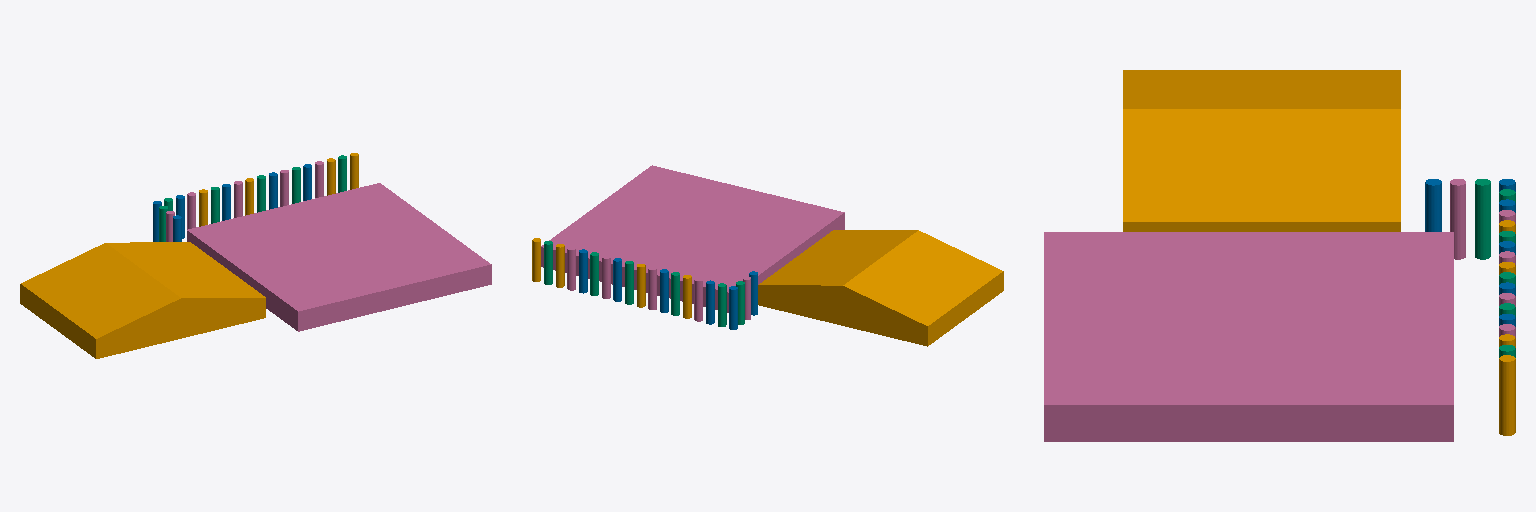
--- Facts derived from the render (not from the file) ---
The picture shows the robot from 3 angles, left to right: view 1: azimuth 30°, elevation 25°; view 2: azimuth 150°, elevation 25°; view 3: azimuth 270°, elevation 25°; orthographic projection.
Robot: pagoda-setup — 139 links, 138 joints (69 revolute, 69 prismatic); root link base_link; default pose: every joint at zero.
Links seen in each view (by area): view 1: platform_link_virtual_yaw_link, Roof_link_virtual_yaw_link; view 2: platform_link_virtual_yaw_link, Roof_link_virtual_yaw_link; view 3: platform_link_virtual_yaw_link, Roof_link_virtual_yaw_link, Pole.001_link_virtual_yaw_link, Pole.019_link_virtual_yaw_link, Pole.020_link_virtual_yaw_link, Pole.021_link_virtual_yaw_link.
Link boxes in pixels (<box>): platform_link_virtual_yaw_link: <box>187,183,491,331</box>; Roof_link_virtual_yaw_link: <box>20,242,265,358</box>; platform_link_virtual_yaw_link: <box>541,165,844,312</box>; Roof_link_virtual_yaw_link: <box>758,230,1003,346</box>; platform_link_virtual_yaw_link: <box>1044,232,1453,441</box>; Roof_link_virtual_yaw_link: <box>1123,70,1400,231</box>; Pole.001_link_virtual_yaw_link: <box>1499,355,1515,435</box>; Pole.019_link_virtual_yaw_link: <box>1475,179,1490,259</box>; Pole.020_link_virtual_yaw_link: <box>1450,179,1465,259</box>; Pole.021_link_virtual_yaw_link: <box>1425,179,1441,231</box>.
Bounding box of the posed robot: 0.9669 × 0.5756 × 0.102 m (x, y, z).
Meshes: 2 distinct files referenced, 2 mesh visuals loaded (2 binary STL).

robot.urdf — pagoda-setup:
<?xml version='1.0' encoding='utf-8'?>
<robot name="pagoda-setup" version="1.0">
  <link name="base_link" />
  <link name="platform_link_virtual_z_link"><inertial><mass value="0.001" /><inertia ixx="0.001" ixy="0" ixz="0" iyy="0.001" iyz="0" izz="0.001" /><origin rpy="0 0 0" xyz="0 0 0" /></inertial></link><link name="platform_link_virtual_y_link"><inertial><mass value="0.001" /><inertia ixx="0.001" ixy="0" ixz="0" iyy="0.001" iyz="0" izz="0.001" /><origin rpy="0 0 0" xyz="0 0 0" /></inertial></link><link name="platform_link_virtual_x_link"><inertial><mass value="0.001" /><inertia ixx="0.001" ixy="0" ixz="0" iyy="0.001" iyz="0" izz="0.001" /><origin rpy="0 0 0" xyz="0 0 0" /></inertial></link><link name="platform_link_virtual_roll_link"><inertial><mass value="0.001" /><inertia ixx="0.001" ixy="0" ixz="0" iyy="0.001" iyz="0" izz="0.001" /><origin rpy="0 0 0" xyz="0 0 0" /></inertial></link><link name="platform_link_virtual_pitch_link"><inertial><mass value="0.001" /><inertia ixx="0.001" ixy="0" ixz="0" iyy="0.001" iyz="0" izz="0.001" /><origin rpy="0 0 0" xyz="0 0 0" /></inertial></link><link name="platform_link_virtual_yaw_link"><visual name="Base">
      <material name="None" />
      <origin rpy="0.00000 0.00000 0.00000" xyz="-0.26000 0.26000 0.02501" />
      <geometry>
        <mesh filename="../meshes/stl/Cube.001.stl" scale="1.00000 1.00000 1.00000" />
      </geometry>
    </visual><collision name="Base_collision">
      <origin rpy="0.00000 0.00000 0.00000" xyz="-0.26000 0.26000 0.02501" />
      <geometry>
        <box size="0.50000 0.50000 0.05000" />
      </geometry>
    </collision><inertial>
      <inertia ixx="2.10417" ixy="0.00000" ixz="0.00000" iyy="2.10417" iyz="0.00000" izz="4.16667" />
      <origin rpy="0.00000 0.00000 0.00000" xyz="-0.26000 0.26000 0.02501" />
      <mass value="100.00000" />
    </inertial></link><joint name="platform_link_z_joint" type="prismatic"><parent link="base_link" /><child link="platform_link_virtual_z_link" /><origin rpy="0 0 0" xyz="0 0 0" /><axis xyz="0 0 1" /><limit lower="-10.0" upper="10.0" effort="1000.0" velocity="5.0" /></joint><joint name="platform_link_y_joint" type="prismatic"><parent link="platform_link_virtual_z_link" /><child link="platform_link_virtual_y_link" /><origin rpy="0 0 0" xyz="0 0 0" /><axis xyz="0 1 0" /><limit lower="-10.0" upper="10.0" effort="1000.0" velocity="5.0" /></joint><joint name="platform_link_x_joint" type="prismatic"><parent link="platform_link_virtual_y_link" /><child link="platform_link_virtual_x_link" /><origin rpy="0 0 0" xyz="0 0 0" /><axis xyz="1 0 0" /><limit lower="-10.0" upper="10.0" effort="1000.0" velocity="5.0" /></joint><joint name="platform_link_roll_joint" type="revolute"><parent link="platform_link_virtual_x_link" /><child link="platform_link_virtual_roll_link" /><origin rpy="0 0 0" xyz="0 0 0" /><axis xyz="1 0 0" /><limit lower="-3.14159" upper="3.14159" effort="1000.0" velocity="5.0" /></joint><joint name="platform_link_pitch_joint" type="revolute"><parent link="platform_link_virtual_roll_link" /><child link="platform_link_virtual_pitch_link" /><origin rpy="0 0 0" xyz="0 0 0" /><axis xyz="0 1 0" /><limit lower="-3.14159" upper="3.14159" effort="1000.0" velocity="5.0" /></joint><joint name="platform_link_yaw_joint" type="revolute"><parent link="platform_link_virtual_pitch_link" /><child link="platform_link_virtual_yaw_link" /><origin rpy="0 0 0" xyz="0 0 0" /><axis xyz="0 0 1" /><limit lower="-3.14159" upper="3.14159" effort="1000.0" velocity="5.0" /></joint><link name="Pole.018_link_virtual_z_link"><inertial><mass value="0.001" /><inertia ixx="0.001" ixy="0" ixz="0" iyy="0.001" iyz="0" izz="0.001" /><origin rpy="0 0 0" xyz="0 0 0" /></inertial></link><link name="Pole.018_link_virtual_y_link"><inertial><mass value="0.001" /><inertia ixx="0.001" ixy="0" ixz="0" iyy="0.001" iyz="0" izz="0.001" /><origin rpy="0 0 0" xyz="0 0 0" /></inertial></link><link name="Pole.018_link_virtual_x_link"><inertial><mass value="0.001" /><inertia ixx="0.001" ixy="0" ixz="0" iyy="0.001" iyz="0" izz="0.001" /><origin rpy="0 0 0" xyz="0 0 0" /></inertial></link><link name="Pole.018_link_virtual_roll_link"><inertial><mass value="0.001" /><inertia ixx="0.001" ixy="0" ixz="0" iyy="0.001" iyz="0" izz="0.001" /><origin rpy="0 0 0" xyz="0 0 0" /></inertial></link><link name="Pole.018_link_virtual_pitch_link"><inertial><mass value="0.001" /><inertia ixx="0.001" ixy="0" ixz="0" iyy="0.001" iyz="0" izz="0.001" /><origin rpy="0 0 0" xyz="0 0 0" /></inertial></link><link name="Pole.018_link_virtual_yaw_link"><visual name="Pole.018">
      <material name="None" />
      <origin rpy="0.00000 0.00000 0.00000" xyz="-0.54837 0.57558 0.05000" />
      <geometry>
        <cylinder radius="0.01000" length="0.10000" />
      </geometry>
    </visual><collision name="Pole.018_collision">
      <origin rpy="0.00000 0.00000 0.00000" xyz="-0.54837 0.57558 0.05000" />
      <geometry>
        <cylinder radius="0.01000" length="0.10000" />
      </geometry>
    </collision><inertial>
      <inertia ixx="0.00858" ixy="0.00000" ixz="0.00000" iyy="0.00858" iyz="0.00000" izz="0.00050" />
      <origin rpy="0.00000 0.00000 0.00000" xyz="-0.54837 0.57558 0.05000" />
      <mass value="10.00000" />
    </inertial></link><joint name="Pole.018_link_z_joint" type="prismatic"><parent link="base_link" /><child link="Pole.018_link_virtual_z_link" /><origin rpy="0 0 0" xyz="0 0 0" /><axis xyz="0 0 1" /><limit lower="-10.0" upper="10.0" effort="1000.0" velocity="5.0" /></joint><joint name="Pole.018_link_y_joint" type="prismatic"><parent link="Pole.018_link_virtual_z_link" /><child link="Pole.018_link_virtual_y_link" /><origin rpy="0 0 0" xyz="0 0 0" /><axis xyz="0 1 0" /><limit lower="-10.0" upper="10.0" effort="1000.0" velocity="5.0" /></joint><joint name="Pole.018_link_x_joint" type="prismatic"><parent link="Pole.018_link_virtual_y_link" /><child link="Pole.018_link_virtual_x_link" /><origin rpy="0 0 0" xyz="0 0 0" /><axis xyz="1 0 0" /><limit lower="-10.0" upper="10.0" effort="1000.0" velocity="5.0" /></joint><joint name="Pole.018_link_roll_joint" type="revolute"><parent link="Pole.018_link_virtual_x_link" /><child link="Pole.018_link_virtual_roll_link" /><origin rpy="0 0 0" xyz="0 0 0" /><axis xyz="1 0 0" /><limit lower="-3.14159" upper="3.14159" effort="1000.0" velocity="5.0" /></joint><joint name="Pole.018_link_pitch_joint" type="revolute"><parent link="Pole.018_link_virtual_roll_link" /><child link="Pole.018_link_virtual_pitch_link" /><origin rpy="0 0 0" xyz="0 0 0" /><axis xyz="0 1 0" /><limit lower="-3.14159" upper="3.14159" effort="1000.0" velocity="5.0" /></joint><joint name="Pole.018_link_yaw_joint" type="revolute"><parent link="Pole.018_link_virtual_pitch_link" /><child link="Pole.018_link_virtual_yaw_link" /><origin rpy="0 0 0" xyz="0 0 0" /><axis xyz="0 0 1" /><limit lower="-3.14159" upper="3.14159" effort="1000.0" velocity="5.0" /></joint><link name="Pole.019_link_virtual_z_link"><inertial><mass value="0.001" /><inertia ixx="0.001" ixy="0" ixz="0" iyy="0.001" iyz="0" izz="0.001" /><origin rpy="0 0 0" xyz="0 0 0" /></inertial></link><link name="Pole.019_link_virtual_y_link"><inertial><mass value="0.001" /><inertia ixx="0.001" ixy="0" ixz="0" iyy="0.001" iyz="0" izz="0.001" /><origin rpy="0 0 0" xyz="0 0 0" /></inertial></link><link name="Pole.019_link_virtual_x_link"><inertial><mass value="0.001" /><inertia ixx="0.001" ixy="0" ixz="0" iyy="0.001" iyz="0" izz="0.001" /><origin rpy="0 0 0" xyz="0 0 0" /></inertial></link><link name="Pole.019_link_virtual_roll_link"><inertial><mass value="0.001" /><inertia ixx="0.001" ixy="0" ixz="0" iyy="0.001" iyz="0" izz="0.001" /><origin rpy="0 0 0" xyz="0 0 0" /></inertial></link><link name="Pole.019_link_virtual_pitch_link"><inertial><mass value="0.001" /><inertia ixx="0.001" ixy="0" ixz="0" iyy="0.001" iyz="0" izz="0.001" /><origin rpy="0 0 0" xyz="0 0 0" /></inertial></link><link name="Pole.019_link_virtual_yaw_link"><visual name="Pole.019">
      <material name="None" />
      <origin rpy="0.00000 0.00000 0.00000" xyz="-0.54837 0.54558 0.05000" />
      <geometry>
        <cylinder radius="0.01000" length="0.10000" />
      </geometry>
    </visual><collision name="Pole.019_collision">
      <origin rpy="0.00000 0.00000 0.00000" xyz="-0.54837 0.54558 0.05000" />
      <geometry>
        <cylinder radius="0.01000" length="0.10000" />
      </geometry>
    </collision><inertial>
      <inertia ixx="0.00858" ixy="0.00000" ixz="0.00000" iyy="0.00858" iyz="0.00000" izz="0.00050" />
      <origin rpy="0.00000 0.00000 0.00000" xyz="-0.54837 0.54558 0.05000" />
      <mass value="10.00000" />
    </inertial></link><joint name="Pole.019_link_z_joint" type="prismatic"><parent link="base_link" /><child link="Pole.019_link_virtual_z_link" /><origin rpy="0 0 0" xyz="0 0 0" /><axis xyz="0 0 1" /><limit lower="-10.0" upper="10.0" effort="1000.0" velocity="5.0" /></joint><joint name="Pole.019_link_y_joint" type="prismatic"><parent link="Pole.019_link_virtual_z_link" /><child link="Pole.019_link_virtual_y_link" /><origin rpy="0 0 0" xyz="0 0 0" /><axis xyz="0 1 0" /><limit lower="-10.0" upper="10.0" effort="1000.0" velocity="5.0" /></joint><joint name="Pole.019_link_x_joint" type="prismatic"><parent link="Pole.019_link_virtual_y_link" /><child link="Pole.019_link_virtual_x_link" /><origin rpy="0 0 0" xyz="0 0 0" /><axis xyz="1 0 0" /><limit lower="-10.0" upper="10.0" effort="1000.0" velocity="5.0" /></joint><joint name="Pole.019_link_roll_joint" type="revolute"><parent link="Pole.019_link_virtual_x_link" /><child link="Pole.019_link_virtual_roll_link" /><origin rpy="0 0 0" xyz="0 0 0" /><axis xyz="1 0 0" /><limit lower="-3.14159" upper="3.14159" effort="1000.0" velocity="5.0" /></joint><joint name="Pole.019_link_pitch_joint" type="revolute"><parent link="Pole.019_link_virtual_roll_link" /><child link="Pole.019_link_virtual_pitch_link" /><origin rpy="0 0 0" xyz="0 0 0" /><axis xyz="0 1 0" /><limit lower="-3.14159" upper="3.14159" effort="1000.0" velocity="5.0" /></joint><joint name="Pole.019_link_yaw_joint" type="revolute"><parent link="Pole.019_link_virtual_pitch_link" /><child link="Pole.019_link_virtual_yaw_link" /><origin rpy="0 0 0" xyz="0 0 0" /><axis xyz="0 0 1" /><limit lower="-3.14159" upper="3.14159" effort="1000.0" velocity="5.0" /></joint><link name="Pole.001_link_virtual_z_link"><inertial><mass value="0.001" /><inertia ixx="0.001" ixy="0" ixz="0" iyy="0.001" iyz="0" izz="0.001" /><origin rpy="0 0 0" xyz="0 0 0" /></inertial></link><link name="Pole.001_link_virtual_y_link"><inertial><mass value="0.001" /><inertia ixx="0.001" ixy="0" ixz="0" iyy="0.001" iyz="0" izz="0.001" /><origin rpy="0 0 0" xyz="0 0 0" /></inertial></link><link name="Pole.001_link_virtual_x_link"><inertial><mass value="0.001" /><inertia ixx="0.001" ixy="0" ixz="0" iyy="0.001" iyz="0" izz="0.001" /><origin rpy="0 0 0" xyz="0 0 0" /></inertial></link><link name="Pole.001_link_virtual_roll_link"><inertial><mass value="0.001" /><inertia ixx="0.001" ixy="0" ixz="0" iyy="0.001" iyz="0" izz="0.001" /><origin rpy="0 0 0" xyz="0 0 0" /></inertial></link><link name="Pole.001_link_virtual_pitch_link"><inertial><mass value="0.001" /><inertia ixx="0.001" ixy="0" ixz="0" iyy="0.001" iyz="0" izz="0.001" /><origin rpy="0 0 0" xyz="0 0 0" /></inertial></link><link name="Pole.001_link_virtual_yaw_link"><visual name="Pole.001">
      <material name="None" />
      <origin rpy="0.00000 0.00000 0.00000" xyz="-0.03837 0.57558 0.05000" />
      <geometry>
        <cylinder radius="0.01000" length="0.10000" />
      </geometry>
    </visual><collision name="Pole.001_collision">
      <origin rpy="0.00000 0.00000 0.00000" xyz="-0.03837 0.57558 0.05000" />
      <geometry>
        <cylinder radius="0.01000" length="0.10000" />
      </geometry>
    </collision><inertial>
      <inertia ixx="0.00858" ixy="0.00000" ixz="0.00000" iyy="0.00858" iyz="0.00000" izz="0.00050" />
      <origin rpy="0.00000 0.00000 0.00000" xyz="-0.03837 0.57558 0.05000" />
      <mass value="10.00000" />
    </inertial></link><joint name="Pole.001_link_z_joint" type="prismatic"><parent link="base_link" /><child link="Pole.001_link_virtual_z_link" /><origin rpy="0 0 0" xyz="0 0 0" /><axis xyz="0 0 1" /><limit lower="-10.0" upper="10.0" effort="1000.0" velocity="5.0" /></joint><joint name="Pole.001_link_y_joint" type="prismatic"><parent link="Pole.001_link_virtual_z_link" /><child link="Pole.001_link_virtual_y_link" /><origin rpy="0 0 0" xyz="0 0 0" /><axis xyz="0 1 0" /><limit lower="-10.0" upper="10.0" effort="1000.0" velocity="5.0" /></joint><joint name="Pole.001_link_x_joint" type="prismatic"><parent link="Pole.001_link_virtual_y_link" /><child link="Pole.001_link_virtual_x_link" /><origin rpy="0 0 0" xyz="0 0 0" /><axis xyz="1 0 0" /><limit lower="-10.0" upper="10.0" effort="1000.0" velocity="5.0" /></joint><joint name="Pole.001_link_roll_joint" type="revolute"><parent link="Pole.001_link_virtual_x_link" /><child link="Pole.001_link_virtual_roll_link" /><origin rpy="0 0 0" xyz="0 0 0" /><axis xyz="1 0 0" /><limit lower="-3.14159" upper="3.14159" effort="1000.0" velocity="5.0" /></joint><joint name="Pole.001_link_pitch_joint" type="revolute"><parent link="Pole.001_link_virtual_roll_link" /><child link="Pole.001_link_virtual_pitch_link" /><origin rpy="0 0 0" xyz="0 0 0" /><axis xyz="0 1 0" /><limit lower="-3.14159" upper="3.14159" effort="1000.0" velocity="5.0" /></joint><joint name="Pole.001_link_yaw_joint" type="revolute"><parent link="Pole.001_link_virtual_pitch_link" /><child link="Pole.001_link_virtual_yaw_link" /><origin rpy="0 0 0" xyz="0 0 0" /><axis xyz="0 0 1" /><limit lower="-3.14159" upper="3.14159" effort="1000.0" velocity="5.0" /></joint><link name="Pole.020_link_virtual_z_link"><inertial><mass value="0.001" /><inertia ixx="0.001" ixy="0" ixz="0" iyy="0.001" iyz="0" izz="0.001" /><origin rpy="0 0 0" xyz="0 0 0" /></inertial></link><link name="Pole.020_link_virtual_y_link"><inertial><mass value="0.001" /><inertia ixx="0.001" ixy="0" ixz="0" iyy="0.001" iyz="0" izz="0.001" /><origin rpy="0 0 0" xyz="0 0 0" /></inertial></link><link name="Pole.020_link_virtual_x_link"><inertial><mass value="0.001" /><inertia ixx="0.001" ixy="0" ixz="0" iyy="0.001" iyz="0" izz="0.001" /><origin rpy="0 0 0" xyz="0 0 0" /></inertial></link><link name="Pole.020_link_virtual_roll_link"><inertial><mass value="0.001" /><inertia ixx="0.001" ixy="0" ixz="0" iyy="0.001" iyz="0" izz="0.001" /><origin rpy="0 0 0" xyz="0 0 0" /></inertial></link><link name="Pole.020_link_virtual_pitch_link"><inertial><mass value="0.001" /><inertia ixx="0.001" ixy="0" ixz="0" iyy="0.001" iyz="0" izz="0.001" /><origin rpy="0 0 0" xyz="0 0 0" /></inertial></link><link name="Pole.020_link_virtual_yaw_link"><visual name="Pole.020">
      <material name="None" />
      <origin rpy="0.00000 0.00000 0.00000" xyz="-0.54837 0.51558 0.05000" />
      <geometry>
        <cylinder radius="0.01000" length="0.10000" />
      </geometry>
    </visual><collision name="Pole.020_collision">
      <origin rpy="0.00000 0.00000 0.00000" xyz="-0.54837 0.51558 0.05000" />
      <geometry>
        <cylinder radius="0.01000" length="0.10000" />
      </geometry>
    </collision><inertial>
      <inertia ixx="0.00858" ixy="0.00000" ixz="0.00000" iyy="0.00858" iyz="0.00000" izz="0.00050" />
      <origin rpy="0.00000 0.00000 0.00000" xyz="-0.54837 0.51558 0.05000" />
      <mass value="10.00000" />
    </inertial></link><joint name="Pole.020_link_z_joint" type="prismatic"><parent link="base_link" /><child link="Pole.020_link_virtual_z_link" /><origin rpy="0 0 0" xyz="0 0 0" /><axis xyz="0 0 1" /><limit lower="-10.0" upper="10.0" effort="1000.0" velocity="5.0" /></joint><joint name="Pole.020_link_y_joint" type="prismatic"><parent link="Pole.020_link_virtual_z_link" /><child link="Pole.020_link_virtual_y_link" /><origin rpy="0 0 0" xyz="0 0 0" /><axis xyz="0 1 0" /><limit lower="-10.0" upper="10.0" effort="1000.0" velocity="5.0" /></joint><joint name="Pole.020_link_x_joint" type="prismatic"><parent link="Pole.020_link_virtual_y_link" /><child link="Pole.020_link_virtual_x_link" /><origin rpy="0 0 0" xyz="0 0 0" /><axis xyz="1 0 0" /><limit lower="-10.0" upper="10.0" effort="1000.0" velocity="5.0" /></joint><joint name="Pole.020_link_roll_joint" type="revolute"><parent link="Pole.020_link_virtual_x_link" /><child link="Pole.020_link_virtual_roll_link" /><origin rpy="0 0 0" xyz="0 0 0" /><axis xyz="1 0 0" /><limit lower="-3.14159" upper="3.14159" effort="1000.0" velocity="5.0" /></joint><joint name="Pole.020_link_pitch_joint" type="revolute"><parent link="Pole.020_link_virtual_roll_link" /><child link="Pole.020_link_virtual_pitch_link" /><origin rpy="0 0 0" xyz="0 0 0" /><axis xyz="0 1 0" /><limit lower="-3.14159" upper="3.14159" effort="1000.0" velocity="5.0" /></joint><joint name="Pole.020_link_yaw_joint" type="revolute"><parent link="Pole.020_link_virtual_pitch_link" /><child link="Pole.020_link_virtual_yaw_link" /><origin rpy="0 0 0" xyz="0 0 0" /><axis xyz="0 0 1" /><limit lower="-3.14159" upper="3.14159" effort="1000.0" velocity="5.0" /></joint><link name="Pole.021_link_virtual_z_link"><inertial><mass value="0.001" /><inertia ixx="0.001" ixy="0" ixz="0" iyy="0.001" iyz="0" izz="0.001" /><origin rpy="0 0 0" xyz="0 0 0" /></inertial></link><link name="Pole.021_link_virtual_y_link"><inertial><mass value="0.001" /><inertia ixx="0.001" ixy="0" ixz="0" iyy="0.001" iyz="0" izz="0.001" /><origin rpy="0 0 0" xyz="0 0 0" /></inertial></link><link name="Pole.021_link_virtual_x_link"><inertial><mass value="0.001" /><inertia ixx="0.001" ixy="0" ixz="0" iyy="0.001" iyz="0" izz="0.001" /><origin rpy="0 0 0" xyz="0 0 0" /></inertial></link><link name="Pole.021_link_virtual_roll_link"><inertial><mass value="0.001" /><inertia ixx="0.001" ixy="0" ixz="0" iyy="0.001" iyz="0" izz="0.001" /><origin rpy="0 0 0" xyz="0 0 0" /></inertial></link><link name="Pole.021_link_virtual_pitch_link"><inertial><mass value="0.001" /><inertia ixx="0.001" ixy="0" ixz="0" iyy="0.001" iyz="0" izz="0.001" /><origin rpy="0 0 0" xyz="0 0 0" /></inertial></link><link name="Pole.021_link_virtual_yaw_link"><visual name="Pole.021">
      <material name="None" />
      <origin rpy="0.00000 0.00000 0.00000" xyz="-0.54837 0.48558 0.05000" />
      <geometry>
        <cylinder radius="0.01000" length="0.10000" />
      </geometry>
    </visual><collision name="Pole.021_collision">
      <origin rpy="0.00000 0.00000 0.00000" xyz="-0.54837 0.48558 0.05000" />
      <geometry>
        <cylinder radius="0.01000" length="0.10000" />
      </geometry>
    </collision><inertial>
      <inertia ixx="0.00858" ixy="0.00000" ixz="0.00000" iyy="0.00858" iyz="0.00000" izz="0.00050" />
      <origin rpy="0.00000 0.00000 0.00000" xyz="-0.54837 0.48558 0.05000" />
      <mass value="10.00000" />
    </inertial></link><joint name="Pole.021_link_z_joint" type="prismatic"><parent link="base_link" /><child link="Pole.021_link_virtual_z_link" /><origin rpy="0 0 0" xyz="0 0 0" /><axis xyz="0 0 1" /><limit lower="-10.0" upper="10.0" effort="1000.0" velocity="5.0" /></joint><joint name="Pole.021_link_y_joint" type="prismatic"><parent link="Pole.021_link_virtual_z_link" /><child link="Pole.021_link_virtual_y_link" /><origin rpy="0 0 0" xyz="0 0 0" /><axis xyz="0 1 0" /><limit lower="-10.0" upper="10.0" effort="1000.0" velocity="5.0" /></joint><joint name="Pole.021_link_x_joint" type="prismatic"><parent link="Pole.021_link_virtual_y_link" /><child link="Pole.021_link_virtual_x_link" /><origin rpy="0 0 0" xyz="0 0 0" /><axis xyz="1 0 0" /><limit lower="-10.0" upper="10.0" effort="1000.0" velocity="5.0" /></joint><joint name="Pole.021_link_roll_joint" type="revolute"><parent link="Pole.021_link_virtual_x_link" /><child link="Pole.021_link_virtual_roll_link" /><origin rpy="0 0 0" xyz="0 0 0" /><axis xyz="1 0 0" /><limit lower="-3.14159" upper="3.14159" effort="1000.0" velocity="5.0" /></joint><joint name="Pole.021_link_pitch_joint" type="revolute"><parent link="Pole.021_link_virtual_roll_link" /><child link="Pole.021_link_virtual_pitch_link" /><origin rpy="0 0 0" xyz="0 0 0" /><axis xyz="0 1 0" /><limit lower="-3.14159" upper="3.14159" effort="1000.0" velocity="5.0" /></joint><joint name="Pole.021_link_yaw_joint" type="revolute"><parent link="Pole.021_link_virtual_pitch_link" /><child link="Pole.021_link_virtual_yaw_link" /><origin rpy="0 0 0" xyz="0 0 0" /><axis xyz="0 0 1" /><limit lower="-3.14159" upper="3.14159" effort="1000.0" velocity="5.0" /></joint><link name="Pole.002_link_virtual_z_link"><inertial><mass value="0.001" /><inertia ixx="0.001" ixy="0" ixz="0" iyy="0.001" iyz="0" izz="0.001" /><origin rpy="0 0 0" xyz="0 0 0" /></inertial></link><link name="Pole.002_link_virtual_y_link"><inertial><mass value="0.001" /><inertia ixx="0.001" ixy="0" ixz="0" iyy="0.001" iyz="0" izz="0.001" /><origin rpy="0 0 0" xyz="0 0 0" /></inertial></link><link name="Pole.002_link_virtual_x_link"><inertial><mass value="0.001" /><inertia ixx="0.001" ixy="0" ixz="0" iyy="0.001" iyz="0" izz="0.001" /><origin rpy="0 0 0" xyz="0 0 0" /></inertial></link><link name="Pole.002_link_virtual_roll_link"><inertial><mass value="0.001" /><inertia ixx="0.001" ixy="0" ixz="0" iyy="0.001" iyz="0" izz="0.001" /><origin rpy="0 0 0" xyz="0 0 0" /></inertial></link><link name="Pole.002_link_virtual_pitch_link"><inertial><mass value="0.001" /><inertia ixx="0.001" ixy="0" ixz="0" iyy="0.001" iyz="0" izz="0.001" /><origin rpy="0 0 0" xyz="0 0 0" /></inertial></link><link name="Pole.002_link_virtual_yaw_link"><visual name="Pole.002">
      <material name="None" />
      <origin rpy="0.00000 0.00000 0.00000" xyz="-0.06837 0.57558 0.05000" />
      <geometry>
        <cylinder radius="0.01000" length="0.10000" />
      </geometry>
    </visual><collision name="Pole.002_collision">
      <origin rpy="0.00000 0.00000 0.00000" xyz="-0.06837 0.57558 0.05000" />
      <geometry>
        <cylinder radius="0.01000" length="0.10000" />
      </geometry>
    </collision><inertial>
      <inertia ixx="0.00858" ixy="0.00000" ixz="0.00000" iyy="0.00858" iyz="0.00000" izz="0.00050" />
      <origin rpy="0.00000 0.00000 0.00000" xyz="-0.06837 0.57558 0.05000" />
      <mass value="10.00000" />
    </inertial></link><joint name="Pole.002_link_z_joint" type="prismatic"><parent link="base_link" /><child link="Pole.002_link_virtual_z_link" /><origin rpy="0 0 0" xyz="0 0 0" /><axis xyz="0 0 1" /><limit lower="-10.0" upper="10.0" effort="1000.0" velocity="5.0" /></joint><joint name="Pole.002_link_y_joint" type="prismatic"><parent link="Pole.002_link_virtual_z_link" /><child link="Pole.002_link_virtual_y_link" /><origin rpy="0 0 0" xyz="0 0 0" /><axis xyz="0 1 0" /><limit lower="-10.0" upper="10.0" effort="1000.0" velocity="5.0" /></joint><joint name="Pole.002_link_x_joint" type="prismatic"><parent link="Pole.002_link_virtual_y_link" /><child link="Pole.002_link_virtual_x_link" /><origin rpy="0 0 0" xyz="0 0 0" /><axis xyz="1 0 0" /><limit lower="-10.0" upper="10.0" effort="1000.0" velocity="5.0" /></joint><joint name="Pole.002_link_roll_joint" type="revolute"><parent link="Pole.002_link_virtual_x_link" /><child link="Pole.002_link_virtual_roll_link" /><origin rpy="0 0 0" xyz="0 0 0" /><axis xyz="1 0 0" /><limit lower="-3.14159" upper="3.14159" effort="1000.0" velocity="5.0" /></joint><joint name="Pole.002_link_pitch_joint" type="revolute"><parent link="Pole.002_link_virtual_roll_link" /><child link="Pole.002_link_virtual_pitch_link" /><origin rpy="0 0 0" xyz="0 0 0" /><axis xyz="0 1 0" /><limit lower="-3.14159" upper="3.14159" effort="1000.0" velocity="5.0" /></joint><joint name="Pole.002_link_yaw_joint" type="revolute"><parent link="Pole.002_link_virtual_pitch_link" /><child link="Pole.002_link_virtual_yaw_link" /><origin rpy="0 0 0" xyz="0 0 0" /><axis xyz="0 0 1" /><limit lower="-3.14159" upper="3.14159" effort="1000.0" velocity="5.0" /></joint><link name="Pole.003_link_virtual_z_link"><inertial><mass value="0.001" /><inertia ixx="0.001" ixy="0" ixz="0" iyy="0.001" iyz="0" izz="0.001" /><origin rpy="0 0 0" xyz="0 0 0" /></inertial></link><link name="Pole.003_link_virtual_y_link"><inertial><mass value="0.001" /><inertia ixx="0.001" ixy="0" ixz="0" iyy="0.001" iyz="0" izz="0.001" /><origin rpy="0 0 0" xyz="0 0 0" /></inertial></link><link name="Pole.003_link_virtual_x_link"><inertial><mass value="0.001" /><inertia ixx="0.001" ixy="0" ixz="0" iyy="0.001" iyz="0" izz="0.001" /><origin rpy="0 0 0" xyz="0 0 0" /></inertial></link><link name="Pole.003_link_virtual_roll_link"><inertial><mass value="0.001" /><inertia ixx="0.001" ixy="0" ixz="0" iyy="0.001" iyz="0" izz="0.001" /><origin rpy="0 0 0" xyz="0 0 0" /></inertial></link><link name="Pole.003_link_virtual_pitch_link"><inertial><mass value="0.001" /><inertia ixx="0.001" ixy="0" ixz="0" iyy="0.001" iyz="0" izz="0.001" /><origin rpy="0 0 0" xyz="0 0 0" /></inertial></link><link name="Pole.003_link_virtual_yaw_link"><visual name="Pole.003">
      <material name="None" />
      <origin rpy="0.00000 0.00000 0.00000" xyz="-0.09837 0.57558 0.05000" />
      <geometry>
        <cylinder radius="0.01000" length="0.10000" />
      </geometry>
    </visual><collision name="Pole.003_collision">
      <origin rpy="0.00000 0.00000 0.00000" xyz="-0.09837 0.57558 0.05000" />
      <geometry>
        <cylinder radius="0.01000" length="0.10000" />
      </geometry>
    </collision><inertial>
      <inertia ixx="0.00858" ixy="0.00000" ixz="0.00000" iyy="0.00858" iyz="0.00000" izz="0.00050" />
      <origin rpy="0.00000 0.00000 0.00000" xyz="-0.09837 0.57558 0.05000" />
      <mass value="10.00000" />
    </inertial></link><joint name="Pole.003_link_z_joint" type="prismatic"><parent link="base_link" /><child link="Pole.003_link_virtual_z_link" /><origin rpy="0 0 0" xyz="0 0 0" /><axis xyz="0 0 1" /><limit lower="-10.0" upper="10.0" effort="1000.0" velocity="5.0" /></joint><joint name="Pole.003_link_y_joint" type="prismatic"><parent link="Pole.003_link_virtual_z_link" /><child link="Pole.003_link_virtual_y_link" /><origin rpy="0 0 0" xyz="0 0 0" /><axis xyz="0 1 0" /><limit lower="-10.0" upper="10.0" effort="1000.0" velocity="5.0" /></joint><joint name="Pole.003_link_x_joint" type="prismatic"><parent link="Pole.003_link_virtual_y_link" /><child link="Pole.003_link_virtual_x_link" /><origin rpy="0 0 0" xyz="0 0 0" /><axis xyz="1 0 0" /><limit lower="-10.0" upper="10.0" effort="1000.0" velocity="5.0" /></joint><joint name="Pole.003_link_roll_joint" type="revolute"><parent link="Pole.003_link_virtual_x_link" /><child link="Pole.003_link_virtual_roll_link" /><origin rpy="0 0 0" xyz="0 0 0" /><axis xyz="1 0 0" /><limit lower="-3.14159" upper="3.14159" effort="1000.0" velocity="5.0" /></joint><joint name="Pole.003_link_pitch_joint" type="revolute"><parent link="Pole.003_link_virtual_roll_link" /><child link="Pole.003_link_virtual_pitch_link" /><origin rpy="0 0 0" xyz="0 0 0" /><axis xyz="0 1 0" /><limit lower="-3.14159" upper="3.14159" effort="1000.0" velocity="5.0" /></joint><joint name="Pole.003_link_yaw_joint" type="revolute"><parent link="Pole.003_link_virtual_pitch_link" /><child link="Pole.003_link_virtual_yaw_link" /><origin rpy="0 0 0" xyz="0 0 0" /><axis xyz="0 0 1" /><limit lower="-3.14159" upper="3.14159" effort="1000.0" velocity="5.0" /></joint><link name="Pole.004_link_virtual_z_link"><inertial><mass value="0.001" /><inertia ixx="0.001" ixy="0" ixz="0" iyy="0.001" iyz="0" izz="0.001" /><origin rpy="0 0 0" xyz="0 0 0" /></inertial></link><link name="Pole.004_link_virtual_y_link"><inertial><mass value="0.001" /><inertia ixx="0.001" ixy="0" ixz="0" iyy="0.001" iyz="0" izz="0.001" /><origin rpy="0 0 0" xyz="0 0 0" /></inertial></link><link name="Pole.004_link_virtual_x_link"><inertial><mass value="0.001" /><inertia ixx="0.001" ixy="0" ixz="0" iyy="0.001" iyz="0" izz="0.001" /><origin rpy="0 0 0" xyz="0 0 0" /></inertial></link><link name="Pole.004_link_virtual_roll_link"><inertial><mass value="0.001" /><inertia ixx="0.001" ixy="0" ixz="0" iyy="0.001" iyz="0" izz="0.001" /><origin rpy="0 0 0" xyz="0 0 0" /></inertial></link><link name="Pole.004_link_virtual_pitch_link"><inertial><mass value="0.001" /><inertia ixx="0.001" ixy="0" ixz="0" iyy="0.001" iyz="0" izz="0.001" /><origin rpy="0 0 0" xyz="0 0 0" /></inertial></link><link name="Pole.004_link_virtual_yaw_link"><visual name="Pole.004">
      <material name="None" />
      <origin rpy="0.00000 0.00000 0.00000" xyz="-0.12837 0.57558 0.05000" />
      <geometry>
        <cylinder radius="0.01000" length="0.10000" />
      </geometry>
    </visual><collision name="Pole.004_collision">
      <origin rpy="0.00000 0.00000 0.00000" xyz="-0.12837 0.57558 0.05000" />
      <geometry>
        <cylinder radius="0.01000" length="0.10000" />
      </geometry>
    </collision><inertial>
      <inertia ixx="0.00858" ixy="0.00000" ixz="0.00000" iyy="0.00858" iyz="0.00000" izz="0.00050" />
      <origin rpy="0.00000 0.00000 0.00000" xyz="-0.12837 0.57558 0.05000" />
      <mass value="10.00000" />
    </inertial></link><joint name="Pole.004_link_z_joint" type="prismatic"><parent link="base_link" /><child link="Pole.004_link_virtual_z_link" /><origin rpy="0 0 0" xyz="0 0 0" /><axis xyz="0 0 1" /><limit lower="-10.0" upper="10.0" effort="1000.0" velocity="5.0" /></joint><joint name="Pole.004_link_y_joint" type="prismatic"><parent link="Pole.004_link_virtual_z_link" /><child link="Pole.004_link_virtual_y_link" /><origin rpy="0 0 0" xyz="0 0 0" /><axis xyz="0 1 0" /><limit lower="-10.0" upper="10.0" effort="1000.0" velocity="5.0" /></joint><joint name="Pole.004_link_x_joint" type="prismatic"><parent link="Pole.004_link_virtual_y_link" /><child link="Pole.004_link_virtual_x_link" /><origin rpy="0 0 0" xyz="0 0 0" /><axis xyz="1 0 0" /><limit lower="-10.0" upper="10.0" effort="1000.0" velocity="5.0" /></joint><joint name="Pole.004_link_roll_joint" type="revolute"><parent link="Pole.004_link_virtual_x_link" /><child link="Pole.004_link_virtual_roll_link" /><origin rpy="0 0 0" xyz="0 0 0" /><axis xyz="1 0 0" /><limit lower="-3.14159" upper="3.14159" effort="1000.0" velocity="5.0" /></joint><joint name="Pole.004_link_pitch_joint" type="revolute"><parent link="Pole.004_link_virtual_roll_link" /><child link="Pole.004_link_virtual_pitch_link" /><origin rpy="0 0 0" xyz="0 0 0" /><axis xyz="0 1 0" /><limit lower="-3.14159" upper="3.14159" effort="1000.0" velocity="5.0" /></joint><joint name="Pole.004_link_yaw_joint" type="revolute"><parent link="Pole.004_link_virtual_pitch_link" /><child link="Pole.004_link_virtual_yaw_link" /><origin rpy="0 0 0" xyz="0 0 0" /><axis xyz="0 0 1" /><limit lower="-3.14159" upper="3.14159" effort="1000.0" velocity="5.0" /></joint><link name="Pole.005_link_virtual_z_link"><inertial><mass value="0.001" /><inertia ixx="0.001" ixy="0" ixz="0" iyy="0.001" iyz="0" izz="0.001" /><origin rpy="0 0 0" xyz="0 0 0" /></inertial></link><link name="Pole.005_link_virtual_y_link"><inertial><mass value="0.001" /><inertia ixx="0.001" ixy="0" ixz="0" iyy="0.001" iyz="0" izz="0.001" /><origin rpy="0 0 0" xyz="0 0 0" /></inertial></link><link name="Pole.005_link_virtual_x_link"><inertial><mass value="0.001" /><inertia ixx="0.001" ixy="0" ixz="0" iyy="0.001" iyz="0" izz="0.001" /><origin rpy="0 0 0" xyz="0 0 0" /></inertial></link><link name="Pole.005_link_virtual_roll_link"><inertial><mass value="0.001" /><inertia ixx="0.001" ixy="0" ixz="0" iyy="0.001" iyz="0" izz="0.001" /><origin rpy="0 0 0" xyz="0 0 0" /></inertial></link><link name="Pole.005_link_virtual_pitch_link"><inertial><mass value="0.001" /><inertia ixx="0.001" ixy="0" ixz="0" iyy="0.001" iyz="0" izz="0.001" /><origin rpy="0 0 0" xyz="0 0 0" /></inertial></link><link name="Pole.005_link_virtual_yaw_link"><visual name="Pole.005">
      <material name="None" />
      <origin rpy="0.00000 0.00000 0.00000" xyz="-0.15837 0.57558 0.05000" />
      <geometry>
        <cylinder radius="0.01000" length="0.10000" />
      </geometry>
    </visual><collision name="Pole.005_collision">
      <origin rpy="0.00000 0.00000 0.00000" xyz="-0.15837 0.57558 0.05000" />
      <geometry>
        <cylinder radius="0.01000" length="0.10000" />
      </geometry>
    </collision><inertial>
      <inertia ixx="0.00858" ixy="0.00000" ixz="0.00000" iyy="0.00858" iyz="0.00000" izz="0.00050" />
      <origin rpy="0.00000 0.00000 0.00000" xyz="-0.15837 0.57558 0.05000" />
      <mass value="10.00000" />
    </inertial></link><joint name="Pole.005_link_z_joint" type="prismatic"><parent link="base_link" /><child link="Pole.005_link_virtual_z_link" /><origin rpy="0 0 0" xyz="0 0 0" /><axis xyz="0 0 1" /><limit lower="-10.0" upper="10.0" effort="1000.0" velocity="5.0" /></joint><joint name="Pole.005_link_y_joint" type="prismatic"><parent link="Pole.005_link_virtual_z_link" /><child link="Pole.005_link_virtual_y_link" /><origin rpy="0 0 0" xyz="0 0 0" /><axis xyz="0 1 0" /><limit lower="-10.0" upper="10.0" effort="1000.0" velocity="5.0" /></joint><joint name="Pole.005_link_x_joint" type="prismatic"><parent link="Pole.005_link_virtual_y_link" /><child link="Pole.005_link_virtual_x_link" /><origin rpy="0 0 0" xyz="0 0 0" /><axis xyz="1 0 0" /><limit lower="-10.0" upper="10.0" effort="1000.0" velocity="5.0" /></joint><joint name="Pole.005_link_roll_joint" type="revolute"><parent link="Pole.005_link_virtual_x_link" /><child link="Pole.005_link_virtual_roll_link" /><origin rpy="0 0 0" xyz="0 0 0" /><axis xyz="1 0 0" /><limit lower="-3.14159" upper="3.14159" effort="1000.0" velocity="5.0" /></joint><joint name="Pole.005_link_pitch_joint" type="revolute"><parent link="Pole.005_link_virtual_roll_link" /><child link="Pole.005_link_virtual_pitch_link" /><origin rpy="0 0 0" xyz="0 0 0" /><axis xyz="0 1 0" /><limit lower="-3.14159" upper="3.14159" effort="1000.0" velocity="5.0" /></joint><joint name="Pole.005_link_yaw_joint" type="revolute"><parent link="Pole.005_link_virtual_pitch_link" /><child link="Pole.005_link_virtual_yaw_link" /><origin rpy="0 0 0" xyz="0 0 0" /><axis xyz="0 0 1" /><limit lower="-3.14159" upper="3.14159" effort="1000.0" velocity="5.0" /></joint><link name="Pole.006_link_virtual_z_link"><inertial><mass value="0.001" /><inertia ixx="0.001" ixy="0" ixz="0" iyy="0.001" iyz="0" izz="0.001" /><origin rpy="0 0 0" xyz="0 0 0" /></inertial></link><link name="Pole.006_link_virtual_y_link"><inertial><mass value="0.001" /><inertia ixx="0.001" ixy="0" ixz="0" iyy="0.001" iyz="0" izz="0.001" /><origin rpy="0 0 0" xyz="0 0 0" /></inertial></link><link name="Pole.006_link_virtual_x_link"><inertial><mass value="0.001" /><inertia ixx="0.001" ixy="0" ixz="0" iyy="0.001" iyz="0" izz="0.001" /><origin rpy="0 0 0" xyz="0 0 0" /></inertial></link><link name="Pole.006_link_virtual_roll_link"><inertial><mass value="0.001" /><inertia ixx="0.001" ixy="0" ixz="0" iyy="0.001" iyz="0" izz="0.001" /><origin rpy="0 0 0" xyz="0 0 0" /></inertial></link><link name="Pole.006_link_virtual_pitch_link"><inertial><mass value="0.001" /><inertia ixx="0.001" ixy="0" ixz="0" iyy="0.001" iyz="0" izz="0.001" /><origin rpy="0 0 0" xyz="0 0 0" /></inertial></link><link name="Pole.006_link_virtual_yaw_link"><visual name="Pole.006">
      <material name="None" />
      <origin rpy="0.00000 0.00000 0.00000" xyz="-0.18837 0.57558 0.05000" />
      <geometry>
        <cylinder radius="0.01000" length="0.10000" />
      </geometry>
    </visual><collision name="Pole.006_collision">
      <origin rpy="0.00000 0.00000 0.00000" xyz="-0.18837 0.57558 0.05000" />
      <geometry>
        <cylinder radius="0.01000" length="0.10000" />
      </geometry>
    </collision><inertial>
      <inertia ixx="0.00858" ixy="0.00000" ixz="0.00000" iyy="0.00858" iyz="0.00000" izz="0.00050" />
      <origin rpy="0.00000 0.00000 0.00000" xyz="-0.18837 0.57558 0.05000" />
      <mass value="10.00000" />
    </inertial></link><joint name="Pole.006_link_z_joint" type="prismatic"><parent link="base_link" /><child link="Pole.006_link_virtual_z_link" /><origin rpy="0 0 0" xyz="0 0 0" /><axis xyz="0 0 1" /><limit lower="-10.0" upper="10.0" effort="1000.0" velocity="5.0" /></joint><joint name="Pole.006_link_y_joint" type="prismatic"><parent link="Pole.006_link_virtual_z_link" /><child link="Pole.006_link_virtual_y_link" /><origin rpy="0 0 0" xyz="0 0 0" /><axis xyz="0 1 0" /><limit lower="-10.0" upper="10.0" effort="1000.0" velocity="5.0" /></joint><joint name="Pole.006_link_x_joint" type="prismatic"><parent link="Pole.006_link_virtual_y_link" /><child link="Pole.006_link_virtual_x_link" /><origin rpy="0 0 0" xyz="0 0 0" /><axis xyz="1 0 0" /><limit lower="-10.0" upper="10.0" effort="1000.0" velocity="5.0" /></joint><joint name="Pole.006_link_roll_joint" type="revolute"><parent link="Pole.006_link_virtual_x_link" /><child link="Pole.006_link_virtual_roll_link" /><origin rpy="0 0 0" xyz="0 0 0" /><axis xyz="1 0 0" /><limit lower="-3.14159" upper="3.14159" effort="1000.0" velocity="5.0" /></joint><joint name="Pole.006_link_pitch_joint" type="revolute"><parent link="Pole.006_link_virtual_roll_link" /><child link="Pole.006_link_virtual_pitch_link" /><origin rpy="0 0 0" xyz="0 0 0" /><axis xyz="0 1 0" /><limit lower="-3.14159" upper="3.14159" effort="1000.0" velocity="5.0" /></joint><joint name="Pole.006_link_yaw_joint" type="revolute"><parent link="Pole.006_link_virtual_pitch_link" /><child link="Pole.006_link_virtual_yaw_link" /><origin rpy="0 0 0" xyz="0 0 0" /><axis xyz="0 0 1" /><limit lower="-3.14159" upper="3.14159" effort="1000.0" velocity="5.0" /></joint><link name="Pole.010_link_virtual_z_link"><inertial><mass value="0.001" /><inertia ixx="0.001" ixy="0" ixz="0" iyy="0.001" iyz="0" izz="0.001" /><origin rpy="0 0 0" xyz="0 0 0" /></inertial></link><link name="Pole.010_link_virtual_y_link"><inertial><mass value="0.001" /><inertia ixx="0.001" ixy="0" ixz="0" iyy="0.001" iyz="0" izz="0.001" /><origin rpy="0 0 0" xyz="0 0 0" /></inertial></link><link name="Pole.010_link_virtual_x_link"><inertial><mass value="0.001" /><inertia ixx="0.001" ixy="0" ixz="0" iyy="0.001" iyz="0" izz="0.001" /><origin rpy="0 0 0" xyz="0 0 0" /></inertial></link><link name="Pole.010_link_virtual_roll_link"><inertial><mass value="0.001" /><inertia ixx="0.001" ixy="0" ixz="0" iyy="0.001" iyz="0" izz="0.001" /><origin rpy="0 0 0" xyz="0 0 0" /></inertial></link><link name="Pole.010_link_virtual_pitch_link"><inertial><mass value="0.001" /><inertia ixx="0.001" ixy="0" ixz="0" iyy="0.001" iyz="0" izz="0.001" /><origin rpy="0 0 0" xyz="0 0 0" /></inertial></link><link name="Pole.010_link_virtual_yaw_link"><visual name="Pole.010">
      <material name="None" />
      <origin rpy="0.00000 0.00000 0.00000" xyz="-0.30837 0.57558 0.05000" />
      <geometry>
        <cylinder radius="0.01000" length="0.10000" />
      </geometry>
    </visual><collision name="Pole.010_collision">
      <origin rpy="0.00000 0.00000 0.00000" xyz="-0.30837 0.57558 0.05000" />
      <geometry>
        <cylinder radius="0.01000" length="0.10000" />
      </geometry>
    </collision><inertial>
      <inertia ixx="0.00858" ixy="0.00000" ixz="0.00000" iyy="0.00858" iyz="0.00000" izz="0.00050" />
      <origin rpy="0.00000 0.00000 0.00000" xyz="-0.30837 0.57558 0.05000" />
      <mass value="10.00000" />
    </inertial></link><joint name="Pole.010_link_z_joint" type="prismatic"><parent link="base_link" /><child link="Pole.010_link_virtual_z_link" /><origin rpy="0 0 0" xyz="0 0 0" /><axis xyz="0 0 1" /><limit lower="-10.0" upper="10.0" effort="1000.0" velocity="5.0" /></joint><joint name="Pole.010_link_y_joint" type="prismatic"><parent link="Pole.010_link_virtual_z_link" /><child link="Pole.010_link_virtual_y_link" /><origin rpy="0 0 0" xyz="0 0 0" /><axis xyz="0 1 0" /><limit lower="-10.0" upper="10.0" effort="1000.0" velocity="5.0" /></joint><joint name="Pole.010_link_x_joint" type="prismatic"><parent link="Pole.010_link_virtual_y_link" /><child link="Pole.010_link_virtual_x_link" /><origin rpy="0 0 0" xyz="0 0 0" /><axis xyz="1 0 0" /><limit lower="-10.0" upper="10.0" effort="1000.0" velocity="5.0" /></joint><joint name="Pole.010_link_roll_joint" type="revolute"><parent link="Pole.010_link_virtual_x_link" /><child link="Pole.010_link_virtual_roll_link" /><origin rpy="0 0 0" xyz="0 0 0" /><axis xyz="1 0 0" /><limit lower="-3.14159" upper="3.14159" effort="1000.0" velocity="5.0" /></joint><joint name="Pole.010_link_pitch_joint" type="revolute"><parent link="Pole.010_link_virtual_roll_link" /><child link="Pole.010_link_virtual_pitch_link" /><origin rpy="0 0 0" xyz="0 0 0" /><axis xyz="0 1 0" /><limit lower="-3.14159" upper="3.14159" effort="1000.0" velocity="5.0" /></joint><joint name="Pole.010_link_yaw_joint" type="revolute"><parent link="Pole.010_link_virtual_pitch_link" /><child link="Pole.010_link_virtual_yaw_link" /><origin rpy="0 0 0" xyz="0 0 0" /><axis xyz="0 0 1" /><limit lower="-3.14159" upper="3.14159" effort="1000.0" velocity="5.0" /></joint><link name="Pole.007_link_virtual_z_link"><inertial><mass value="0.001" /><inertia ixx="0.001" ixy="0" ixz="0" iyy="0.001" iyz="0" izz="0.001" /><origin rpy="0 0 0" xyz="0 0 0" /></inertial></link><link name="Pole.007_link_virtual_y_link"><inertial><mass value="0.001" /><inertia ixx="0.001" ixy="0" ixz="0" iyy="0.001" iyz="0" izz="0.001" /><origin rpy="0 0 0" xyz="0 0 0" /></inertial></link><link name="Pole.007_link_virtual_x_link"><inertial><mass value="0.001" /><inertia ixx="0.001" ixy="0" ixz="0" iyy="0.001" iyz="0" izz="0.001" /><origin rpy="0 0 0" xyz="0 0 0" /></inertial></link><link name="Pole.007_link_virtual_roll_link"><inertial><mass value="0.001" /><inertia ixx="0.001" ixy="0" ixz="0" iyy="0.001" iyz="0" izz="0.001" /><origin rpy="0 0 0" xyz="0 0 0" /></inertial></link><link name="Pole.007_link_virtual_pitch_link"><inertial><mass value="0.001" /><inertia ixx="0.001" ixy="0" ixz="0" iyy="0.001" iyz="0" izz="0.001" /><origin rpy="0 0 0" xyz="0 0 0" /></inertial></link><link name="Pole.007_link_virtual_yaw_link"><visual name="Pole.007">
      <material name="None" />
      <origin rpy="0.00000 0.00000 0.00000" xyz="-0.21837 0.57558 0.05000" />
      <geometry>
        <cylinder radius="0.01000" length="0.10000" />
      </geometry>
    </visual><collision name="Pole.007_collision">
      <origin rpy="0.00000 0.00000 0.00000" xyz="-0.21837 0.57558 0.05000" />
      <geometry>
        <cylinder radius="0.01000" length="0.10000" />
      </geometry>
    </collision><inertial>
      <inertia ixx="0.00858" ixy="0.00000" ixz="0.00000" iyy="0.00858" iyz="0.00000" izz="0.00050" />
      <origin rpy="0.00000 0.00000 0.00000" xyz="-0.21837 0.57558 0.05000" />
      <mass value="10.00000" />
    </inertial></link><joint name="Pole.007_link_z_joint" type="prismatic"><parent link="base_link" /><child link="Pole.007_link_virtual_z_link" /><origin rpy="0 0 0" xyz="0 0 0" /><axis xyz="0 0 1" /><limit lower="-10.0" upper="10.0" effort="1000.0" velocity="5.0" /></joint><joint name="Pole.007_link_y_joint" type="prismatic"><parent link="Pole.007_link_virtual_z_link" /><child link="Pole.007_link_virtual_y_link" /><origin rpy="0 0 0" xyz="0 0 0" /><axis xyz="0 1 0" /><limit lower="-10.0" upper="10.0" effort="1000.0" velocity="5.0" /></joint><joint name="Pole.007_link_x_joint" type="prismatic"><parent link="Pole.007_link_virtual_y_link" /><child link="Pole.007_link_virtual_x_link" /><origin rpy="0 0 0" xyz="0 0 0" /><axis xyz="1 0 0" /><limit lower="-10.0" upper="10.0" effort="1000.0" velocity="5.0" /></joint><joint name="Pole.007_link_roll_joint" type="revolute"><parent link="Pole.007_link_virtual_x_link" /><child link="Pole.007_link_virtual_roll_link" /><origin rpy="0 0 0" xyz="0 0 0" /><axis xyz="1 0 0" /><limit lower="-3.14159" upper="3.14159" effort="1000.0" velocity="5.0" /></joint><joint name="Pole.007_link_pitch_joint" type="revolute"><parent link="Pole.007_link_virtual_roll_link" /><child link="Pole.007_link_virtual_pitch_link" /><origin rpy="0 0 0" xyz="0 0 0" /><axis xyz="0 1 0" /><limit lower="-3.14159" upper="3.14159" effort="1000.0" velocity="5.0" /></joint><joint name="Pole.007_link_yaw_joint" type="revolute"><parent link="Pole.007_link_virtual_pitch_link" /><child link="Pole.007_link_virtual_yaw_link" /><origin rpy="0 0 0" xyz="0 0 0" /><axis xyz="0 0 1" /><limit lower="-3.14159" upper="3.14159" effort="1000.0" velocity="5.0" /></joint><link name="Pole.008_link_virtual_z_link"><inertial><mass value="0.001" /><inertia ixx="0.001" ixy="0" ixz="0" iyy="0.001" iyz="0" izz="0.001" /><origin rpy="0 0 0" xyz="0 0 0" /></inertial></link><link name="Pole.008_link_virtual_y_link"><inertial><mass value="0.001" /><inertia ixx="0.001" ixy="0" ixz="0" iyy="0.001" iyz="0" izz="0.001" /><origin rpy="0 0 0" xyz="0 0 0" /></inertial></link><link name="Pole.008_link_virtual_x_link"><inertial><mass value="0.001" /><inertia ixx="0.001" ixy="0" ixz="0" iyy="0.001" iyz="0" izz="0.001" /><origin rpy="0 0 0" xyz="0 0 0" /></inertial></link><link name="Pole.008_link_virtual_roll_link"><inertial><mass value="0.001" /><inertia ixx="0.001" ixy="0" ixz="0" iyy="0.001" iyz="0" izz="0.001" /><origin rpy="0 0 0" xyz="0 0 0" /></inertial></link><link name="Pole.008_link_virtual_pitch_link"><inertial><mass value="0.001" /><inertia ixx="0.001" ixy="0" ixz="0" iyy="0.001" iyz="0" izz="0.001" /><origin rpy="0 0 0" xyz="0 0 0" /></inertial></link><link name="Pole.008_link_virtual_yaw_link"><visual name="Pole.008">
      <material name="None" />
      <origin rpy="0.00000 0.00000 0.00000" xyz="-0.24837 0.57558 0.05000" />
      <geometry>
        <cylinder radius="0.01000" length="0.10000" />
      </geometry>
    </visual><collision name="Pole.008_collision">
      <origin rpy="0.00000 0.00000 0.00000" xyz="-0.24837 0.57558 0.05000" />
      <geometry>
        <cylinder radius="0.01000" length="0.10000" />
      </geometry>
    </collision><inertial>
      <inertia ixx="0.00858" ixy="0.00000" ixz="0.00000" iyy="0.00858" iyz="0.00000" izz="0.00050" />
      <origin rpy="0.00000 0.00000 0.00000" xyz="-0.24837 0.57558 0.05000" />
      <mass value="10.00000" />
    </inertial></link><joint name="Pole.008_link_z_joint" type="prismatic"><parent link="base_link" /><child link="Pole.008_link_virtual_z_link" /><origin rpy="0 0 0" xyz="0 0 0" /><axis xyz="0 0 1" /><limit lower="-10.0" upper="10.0" effort="1000.0" velocity="5.0" /></joint><joint name="Pole.008_link_y_joint" type="prismatic"><parent link="Pole.008_link_virtual_z_link" /><child link="Pole.008_link_virtual_y_link" /><origin rpy="0 0 0" xyz="0 0 0" /><axis xyz="0 1 0" /><limit lower="-10.0" upper="10.0" effort="1000.0" velocity="5.0" /></joint><joint name="Pole.008_link_x_joint" type="prismatic"><parent link="Pole.008_link_virtual_y_link" /><child link="Pole.008_link_virtual_x_link" /><origin rpy="0 0 0" xyz="0 0 0" /><axis xyz="1 0 0" /><limit lower="-10.0" upper="10.0" effort="1000.0" velocity="5.0" /></joint><joint name="Pole.008_link_roll_joint" type="revolute"><parent link="Pole.008_link_virtual_x_link" /><child link="Pole.008_link_virtual_roll_link" /><origin rpy="0 0 0" xyz="0 0 0" /><axis xyz="1 0 0" /><limit lower="-3.14159" upper="3.14159" effort="1000.0" velocity="5.0" /></joint><joint name="Pole.008_link_pitch_joint" type="revolute"><parent link="Pole.008_link_virtual_roll_link" /><child link="Pole.008_link_virtual_pitch_link" /><origin rpy="0 0 0" xyz="0 0 0" /><axis xyz="0 1 0" /><limit lower="-3.14159" upper="3.14159" effort="1000.0" velocity="5.0" /></joint><joint name="Pole.008_link_yaw_joint" type="revolute"><parent link="Pole.008_link_virtual_pitch_link" /><child link="Pole.008_link_virtual_yaw_link" /><origin rpy="0 0 0" xyz="0 0 0" /><axis xyz="0 0 1" /><limit lower="-3.14159" upper="3.14159" effort="1000.0" velocity="5.0" /></joint><link name="Pole.009_link_virtual_z_link"><inertial><mass value="0.001" /><inertia ixx="0.001" ixy="0" ixz="0" iyy="0.001" iyz="0" izz="0.001" /><origin rpy="0 0 0" xyz="0 0 0" /></inertial></link><link name="Pole.009_link_virtual_y_link"><inertial><mass value="0.001" /><inertia ixx="0.001" ixy="0" ixz="0" iyy="0.001" iyz="0" izz="0.001" /><origin rpy="0 0 0" xyz="0 0 0" /></inertial></link><link name="Pole.009_link_virtual_x_link"><inertial><mass value="0.001" /><inertia ixx="0.001" ixy="0" ixz="0" iyy="0.001" iyz="0" izz="0.001" /><origin rpy="0 0 0" xyz="0 0 0" /></inertial></link><link name="Pole.009_link_virtual_roll_link"><inertial><mass value="0.001" /><inertia ixx="0.001" ixy="0" ixz="0" iyy="0.001" iyz="0" izz="0.001" /><origin rpy="0 0 0" xyz="0 0 0" /></inertial></link><link name="Pole.009_link_virtual_pitch_link"><inertial><mass value="0.001" /><inertia ixx="0.001" ixy="0" ixz="0" iyy="0.001" iyz="0" izz="0.001" /><origin rpy="0 0 0" xyz="0 0 0" /></inertial></link><link name="Pole.009_link_virtual_yaw_link"><visual name="Pole.009">
      <material name="None" />
      <origin rpy="0.00000 0.00000 0.00000" xyz="-0.27837 0.57558 0.05000" />
      <geometry>
        <cylinder radius="0.01000" length="0.10000" />
      </geometry>
    </visual><collision name="Pole.009_collision">
      <origin rpy="0.00000 0.00000 0.00000" xyz="-0.27837 0.57558 0.05000" />
      <geometry>
        <cylinder radius="0.01000" length="0.10000" />
      </geometry>
    </collision><inertial>
      <inertia ixx="0.00858" ixy="0.00000" ixz="0.00000" iyy="0.00858" iyz="0.00000" izz="0.00050" />
      <origin rpy="0.00000 0.00000 0.00000" xyz="-0.27837 0.57558 0.05000" />
      <mass value="10.00000" />
    </inertial></link><joint name="Pole.009_link_z_joint" type="prismatic"><parent link="base_link" /><child link="Pole.009_link_virtual_z_link" /><origin rpy="0 0 0" xyz="0 0 0" /><axis xyz="0 0 1" /><limit lower="-10.0" upper="10.0" effort="1000.0" velocity="5.0" /></joint><joint name="Pole.009_link_y_joint" type="prismatic"><parent link="Pole.009_link_virtual_z_link" /><child link="Pole.009_link_virtual_y_link" /><origin rpy="0 0 0" xyz="0 0 0" /><axis xyz="0 1 0" /><limit lower="-10.0" upper="10.0" effort="1000.0" velocity="5.0" /></joint><joint name="Pole.009_link_x_joint" type="prismatic"><parent link="Pole.009_link_virtual_y_link" /><child link="Pole.009_link_virtual_x_link" /><origin rpy="0 0 0" xyz="0 0 0" /><axis xyz="1 0 0" /><limit lower="-10.0" upper="10.0" effort="1000.0" velocity="5.0" /></joint><joint name="Pole.009_link_roll_joint" type="revolute"><parent link="Pole.009_link_virtual_x_link" /><child link="Pole.009_link_virtual_roll_link" /><origin rpy="0 0 0" xyz="0 0 0" /><axis xyz="1 0 0" /><limit lower="-3.14159" upper="3.14159" effort="1000.0" velocity="5.0" /></joint><joint name="Pole.009_link_pitch_joint" type="revolute"><parent link="Pole.009_link_virtual_roll_link" /><child link="Pole.009_link_virtual_pitch_link" /><origin rpy="0 0 0" xyz="0 0 0" /><axis xyz="0 1 0" /><limit lower="-3.14159" upper="3.14159" effort="1000.0" velocity="5.0" /></joint><joint name="Pole.009_link_yaw_joint" type="revolute"><parent link="Pole.009_link_virtual_pitch_link" /><child link="Pole.009_link_virtual_yaw_link" /><origin rpy="0 0 0" xyz="0 0 0" /><axis xyz="0 0 1" /><limit lower="-3.14159" upper="3.14159" effort="1000.0" velocity="5.0" /></joint><link name="Roof_link_virtual_z_link"><inertial><mass value="0.001" /><inertia ixx="0.001" ixy="0" ixz="0" iyy="0.001" iyz="0" izz="0.001" /><origin rpy="0 0 0" xyz="0 0 0" /></inertial></link><link name="Roof_link_virtual_y_link"><inertial><mass value="0.001" /><inertia ixx="0.001" ixy="0" ixz="0" iyy="0.001" iyz="0" izz="0.001" /><origin rpy="0 0 0" xyz="0 0 0" /></inertial></link><link name="Roof_link_virtual_x_link"><inertial><mass value="0.001" /><inertia ixx="0.001" ixy="0" ixz="0" iyy="0.001" iyz="0" izz="0.001" /><origin rpy="0 0 0" xyz="0 0 0" /></inertial></link><link name="Roof_link_virtual_roll_link"><inertial><mass value="0.001" /><inertia ixx="0.001" ixy="0" ixz="0" iyy="0.001" iyz="0" izz="0.001" /><origin rpy="0 0 0" xyz="0 0 0" /></inertial></link><link name="Roof_link_virtual_pitch_link"><inertial><mass value="0.001" /><inertia ixx="0.001" ixy="0" ixz="0" iyy="0.001" iyz="0" izz="0.001" /><origin rpy="0 0 0" xyz="0 0 0" /></inertial></link><link name="Roof_link_virtual_yaw_link"><visual name="Roof">
      <material name="None" />
      <origin rpy="0.00000 0.00000 0.00000" xyz="-0.75685 0.27574 0.05200" />
      <geometry>
        <mesh filename="../meshes/stl/Cube.002.stl" scale="1.00000 1.00000 1.00000" />
      </geometry>
    </visual><collision name="Roof_collision">
      <origin rpy="0.00000 0.00000 0.00000" xyz="-0.75738 0.27626 0.06643" />
      <geometry>
        <mesh filename="../meshes/stl/geometry_0.stl" scale="1.00000 1.00000 1.00000" />
      </geometry>
    </collision><inertial>
      <inertia ixx="0.02226" ixy="0.00000" ixz="0.00003" iyy="0.03015" iyz="-0.00003" izz="0.04745" />
      <origin rpy="0.00000 0.00000 0.00000" xyz="-0.75683 0.27558 0.04181" />
      <mass value="2.00000" />
    </inertial></link><joint name="Roof_link_z_joint" type="prismatic"><parent link="base_link" /><child link="Roof_link_virtual_z_link" /><origin rpy="0 0 0" xyz="0 0 0" /><axis xyz="0 0 1" /><limit lower="-10.0" upper="10.0" effort="1000.0" velocity="5.0" /></joint><joint name="Roof_link_y_joint" type="prismatic"><parent link="Roof_link_virtual_z_link" /><child link="Roof_link_virtual_y_link" /><origin rpy="0 0 0" xyz="0 0 0" /><axis xyz="0 1 0" /><limit lower="-10.0" upper="10.0" effort="1000.0" velocity="5.0" /></joint><joint name="Roof_link_x_joint" type="prismatic"><parent link="Roof_link_virtual_y_link" /><child link="Roof_link_virtual_x_link" /><origin rpy="0 0 0" xyz="0 0 0" /><axis xyz="1 0 0" /><limit lower="-10.0" upper="10.0" effort="1000.0" velocity="5.0" /></joint><joint name="Roof_link_roll_joint" type="revolute"><parent link="Roof_link_virtual_x_link" /><child link="Roof_link_virtual_roll_link" /><origin rpy="0 0 0" xyz="0 0 0" /><axis xyz="1 0 0" /><limit lower="-3.14159" upper="3.14159" effort="1000.0" velocity="5.0" /></joint><joint name="Roof_link_pitch_joint" type="revolute"><parent link="Roof_link_virtual_roll_link" /><child link="Roof_link_virtual_pitch_link" /><origin rpy="0 0 0" xyz="0 0 0" /><axis xyz="0 1 0" /><limit lower="-3.14159" upper="3.14159" effort="1000.0" velocity="5.0" /></joint><joint name="Roof_link_yaw_joint" type="revolute"><parent link="Roof_link_virtual_pitch_link" /><child link="Roof_link_virtual_yaw_link" /><origin rpy="0 0 0" xyz="0 0 0" /><axis xyz="0 0 1" /><limit lower="-3.14159" upper="3.14159" effort="1000.0" velocity="5.0" /></joint><link name="Pole.011_link_virtual_z_link"><inertial><mass value="0.001" /><inertia ixx="0.001" ixy="0" ixz="0" iyy="0.001" iyz="0" izz="0.001" /><origin rpy="0 0 0" xyz="0 0 0" /></inertial></link><link name="Pole.011_link_virtual_y_link"><inertial><mass value="0.001" /><inertia ixx="0.001" ixy="0" ixz="0" iyy="0.001" iyz="0" izz="0.001" /><origin rpy="0 0 0" xyz="0 0 0" /></inertial></link><link name="Pole.011_link_virtual_x_link"><inertial><mass value="0.001" /><inertia ixx="0.001" ixy="0" ixz="0" iyy="0.001" iyz="0" izz="0.001" /><origin rpy="0 0 0" xyz="0 0 0" /></inertial></link><link name="Pole.011_link_virtual_roll_link"><inertial><mass value="0.001" /><inertia ixx="0.001" ixy="0" ixz="0" iyy="0.001" iyz="0" izz="0.001" /><origin rpy="0 0 0" xyz="0 0 0" /></inertial></link><link name="Pole.011_link_virtual_pitch_link"><inertial><mass value="0.001" /><inertia ixx="0.001" ixy="0" ixz="0" iyy="0.001" iyz="0" izz="0.001" /><origin rpy="0 0 0" xyz="0 0 0" /></inertial></link><link name="Pole.011_link_virtual_yaw_link"><visual name="Pole.011">
      <material name="None" />
      <origin rpy="0.00000 0.00000 0.00000" xyz="-0.33837 0.57558 0.05000" />
      <geometry>
        <cylinder radius="0.01000" length="0.10000" />
      </geometry>
    </visual><collision name="Pole.011_collision">
      <origin rpy="0.00000 0.00000 0.00000" xyz="-0.33837 0.57558 0.05000" />
      <geometry>
        <cylinder radius="0.01000" length="0.10000" />
      </geometry>
    </collision><inertial>
      <inertia ixx="0.00858" ixy="0.00000" ixz="0.00000" iyy="0.00858" iyz="0.00000" izz="0.00050" />
      <origin rpy="0.00000 0.00000 0.00000" xyz="-0.33837 0.57558 0.05000" />
      <mass value="10.00000" />
    </inertial></link><joint name="Pole.011_link_z_joint" type="prismatic"><parent link="base_link" /><child link="Pole.011_link_virtual_z_link" /><origin rpy="0 0 0" xyz="0 0 0" /><axis xyz="0 0 1" /><limit lower="-10.0" upper="10.0" effort="1000.0" velocity="5.0" /></joint><joint name="Pole.011_link_y_joint" type="prismatic"><parent link="Pole.011_link_virtual_z_link" /><child link="Pole.011_link_virtual_y_link" /><origin rpy="0 0 0" xyz="0 0 0" /><axis xyz="0 1 0" /><limit lower="-10.0" upper="10.0" effort="1000.0" velocity="5.0" /></joint><joint name="Pole.011_link_x_joint" type="prismatic"><parent link="Pole.011_link_virtual_y_link" /><child link="Pole.011_link_virtual_x_link" /><origin rpy="0 0 0" xyz="0 0 0" /><axis xyz="1 0 0" /><limit lower="-10.0" upper="10.0" effort="1000.0" velocity="5.0" /></joint><joint name="Pole.011_link_roll_joint" type="revolute"><parent link="Pole.011_link_virtual_x_link" /><child link="Pole.011_link_virtual_roll_link" /><origin rpy="0 0 0" xyz="0 0 0" /><axis xyz="1 0 0" /><limit lower="-3.14159" upper="3.14159" effort="1000.0" velocity="5.0" /></joint><joint name="Pole.011_link_pitch_joint" type="revolute"><parent link="Pole.011_link_virtual_roll_link" /><child link="Pole.011_link_virtual_pitch_link" /><origin rpy="0 0 0" xyz="0 0 0" /><axis xyz="0 1 0" /><limit lower="-3.14159" upper="3.14159" effort="1000.0" velocity="5.0" /></joint><joint name="Pole.011_link_yaw_joint" type="revolute"><parent link="Pole.011_link_virtual_pitch_link" /><child link="Pole.011_link_virtual_yaw_link" /><origin rpy="0 0 0" xyz="0 0 0" /><axis xyz="0 0 1" /><limit lower="-3.14159" upper="3.14159" effort="1000.0" velocity="5.0" /></joint><link name="Pole.012_link_virtual_z_link"><inertial><mass value="0.001" /><inertia ixx="0.001" ixy="0" ixz="0" iyy="0.001" iyz="0" izz="0.001" /><origin rpy="0 0 0" xyz="0 0 0" /></inertial></link><link name="Pole.012_link_virtual_y_link"><inertial><mass value="0.001" /><inertia ixx="0.001" ixy="0" ixz="0" iyy="0.001" iyz="0" izz="0.001" /><origin rpy="0 0 0" xyz="0 0 0" /></inertial></link><link name="Pole.012_link_virtual_x_link"><inertial><mass value="0.001" /><inertia ixx="0.001" ixy="0" ixz="0" iyy="0.001" iyz="0" izz="0.001" /><origin rpy="0 0 0" xyz="0 0 0" /></inertial></link><link name="Pole.012_link_virtual_roll_link"><inertial><mass value="0.001" /><inertia ixx="0.001" ixy="0" ixz="0" iyy="0.001" iyz="0" izz="0.001" /><origin rpy="0 0 0" xyz="0 0 0" /></inertial></link><link name="Pole.012_link_virtual_pitch_link"><inertial><mass value="0.001" /><inertia ixx="0.001" ixy="0" ixz="0" iyy="0.001" iyz="0" izz="0.001" /><origin rpy="0 0 0" xyz="0 0 0" /></inertial></link><link name="Pole.012_link_virtual_yaw_link"><visual name="Pole.012">
      <material name="None" />
      <origin rpy="0.00000 0.00000 0.00000" xyz="-0.36837 0.57558 0.05000" />
      <geometry>
        <cylinder radius="0.01000" length="0.10000" />
      </geometry>
    </visual><collision name="Pole.012_collision">
      <origin rpy="0.00000 0.00000 0.00000" xyz="-0.36837 0.57558 0.05000" />
      <geometry>
        <cylinder radius="0.01000" length="0.10000" />
      </geometry>
    </collision><inertial>
      <inertia ixx="0.00858" ixy="0.00000" ixz="0.00000" iyy="0.00858" iyz="0.00000" izz="0.00050" />
      <origin rpy="0.00000 0.00000 0.00000" xyz="-0.36837 0.57558 0.05000" />
      <mass value="10.00000" />
    </inertial></link><joint name="Pole.012_link_z_joint" type="prismatic"><parent link="base_link" /><child link="Pole.012_link_virtual_z_link" /><origin rpy="0 0 0" xyz="0 0 0" /><axis xyz="0 0 1" /><limit lower="-10.0" upper="10.0" effort="1000.0" velocity="5.0" /></joint><joint name="Pole.012_link_y_joint" type="prismatic"><parent link="Pole.012_link_virtual_z_link" /><child link="Pole.012_link_virtual_y_link" /><origin rpy="0 0 0" xyz="0 0 0" /><axis xyz="0 1 0" /><limit lower="-10.0" upper="10.0" effort="1000.0" velocity="5.0" /></joint><joint name="Pole.012_link_x_joint" type="prismatic"><parent link="Pole.012_link_virtual_y_link" /><child link="Pole.012_link_virtual_x_link" /><origin rpy="0 0 0" xyz="0 0 0" /><axis xyz="1 0 0" /><limit lower="-10.0" upper="10.0" effort="1000.0" velocity="5.0" /></joint><joint name="Pole.012_link_roll_joint" type="revolute"><parent link="Pole.012_link_virtual_x_link" /><child link="Pole.012_link_virtual_roll_link" /><origin rpy="0 0 0" xyz="0 0 0" /><axis xyz="1 0 0" /><limit lower="-3.14159" upper="3.14159" effort="1000.0" velocity="5.0" /></joint><joint name="Pole.012_link_pitch_joint" type="revolute"><parent link="Pole.012_link_virtual_roll_link" /><child link="Pole.012_link_virtual_pitch_link" /><origin rpy="0 0 0" xyz="0 0 0" /><axis xyz="0 1 0" /><limit lower="-3.14159" upper="3.14159" effort="1000.0" velocity="5.0" /></joint><joint name="Pole.012_link_yaw_joint" type="revolute"><parent link="Pole.012_link_virtual_pitch_link" /><child link="Pole.012_link_virtual_yaw_link" /><origin rpy="0 0 0" xyz="0 0 0" /><axis xyz="0 0 1" /><limit lower="-3.14159" upper="3.14159" effort="1000.0" velocity="5.0" /></joint><link name="Pole.013_link_virtual_z_link"><inertial><mass value="0.001" /><inertia ixx="0.001" ixy="0" ixz="0" iyy="0.001" iyz="0" izz="0.001" /><origin rpy="0 0 0" xyz="0 0 0" /></inertial></link><link name="Pole.013_link_virtual_y_link"><inertial><mass value="0.001" /><inertia ixx="0.001" ixy="0" ixz="0" iyy="0.001" iyz="0" izz="0.001" /><origin rpy="0 0 0" xyz="0 0 0" /></inertial></link><link name="Pole.013_link_virtual_x_link"><inertial><mass value="0.001" /><inertia ixx="0.001" ixy="0" ixz="0" iyy="0.001" iyz="0" izz="0.001" /><origin rpy="0 0 0" xyz="0 0 0" /></inertial></link><link name="Pole.013_link_virtual_roll_link"><inertial><mass value="0.001" /><inertia ixx="0.001" ixy="0" ixz="0" iyy="0.001" iyz="0" izz="0.001" /><origin rpy="0 0 0" xyz="0 0 0" /></inertial></link><link name="Pole.013_link_virtual_pitch_link"><inertial><mass value="0.001" /><inertia ixx="0.001" ixy="0" ixz="0" iyy="0.001" iyz="0" izz="0.001" /><origin rpy="0 0 0" xyz="0 0 0" /></inertial></link><link name="Pole.013_link_virtual_yaw_link"><visual name="Pole.013">
      <material name="None" />
      <origin rpy="0.00000 0.00000 0.00000" xyz="-0.39837 0.57558 0.05000" />
      <geometry>
        <cylinder radius="0.01000" length="0.10000" />
      </geometry>
    </visual><collision name="Pole.013_collision">
      <origin rpy="0.00000 0.00000 0.00000" xyz="-0.39837 0.57558 0.05000" />
      <geometry>
        <cylinder radius="0.01000" length="0.10000" />
      </geometry>
    </collision><inertial>
      <inertia ixx="0.00858" ixy="0.00000" ixz="0.00000" iyy="0.00858" iyz="0.00000" izz="0.00050" />
      <origin rpy="0.00000 0.00000 0.00000" xyz="-0.39837 0.57558 0.05000" />
      <mass value="10.00000" />
    </inertial></link><joint name="Pole.013_link_z_joint" type="prismatic"><parent link="base_link" /><child link="Pole.013_link_virtual_z_link" /><origin rpy="0 0 0" xyz="0 0 0" /><axis xyz="0 0 1" /><limit lower="-10.0" upper="10.0" effort="1000.0" velocity="5.0" /></joint><joint name="Pole.013_link_y_joint" type="prismatic"><parent link="Pole.013_link_virtual_z_link" /><child link="Pole.013_link_virtual_y_link" /><origin rpy="0 0 0" xyz="0 0 0" /><axis xyz="0 1 0" /><limit lower="-10.0" upper="10.0" effort="1000.0" velocity="5.0" /></joint><joint name="Pole.013_link_x_joint" type="prismatic"><parent link="Pole.013_link_virtual_y_link" /><child link="Pole.013_link_virtual_x_link" /><origin rpy="0 0 0" xyz="0 0 0" /><axis xyz="1 0 0" /><limit lower="-10.0" upper="10.0" effort="1000.0" velocity="5.0" /></joint><joint name="Pole.013_link_roll_joint" type="revolute"><parent link="Pole.013_link_virtual_x_link" /><child link="Pole.013_link_virtual_roll_link" /><origin rpy="0 0 0" xyz="0 0 0" /><axis xyz="1 0 0" /><limit lower="-3.14159" upper="3.14159" effort="1000.0" velocity="5.0" /></joint><joint name="Pole.013_link_pitch_joint" type="revolute"><parent link="Pole.013_link_virtual_roll_link" /><child link="Pole.013_link_virtual_pitch_link" /><origin rpy="0 0 0" xyz="0 0 0" /><axis xyz="0 1 0" /><limit lower="-3.14159" upper="3.14159" effort="1000.0" velocity="5.0" /></joint><joint name="Pole.013_link_yaw_joint" type="revolute"><parent link="Pole.013_link_virtual_pitch_link" /><child link="Pole.013_link_virtual_yaw_link" /><origin rpy="0 0 0" xyz="0 0 0" /><axis xyz="0 0 1" /><limit lower="-3.14159" upper="3.14159" effort="1000.0" velocity="5.0" /></joint><link name="Pole.014_link_virtual_z_link"><inertial><mass value="0.001" /><inertia ixx="0.001" ixy="0" ixz="0" iyy="0.001" iyz="0" izz="0.001" /><origin rpy="0 0 0" xyz="0 0 0" /></inertial></link><link name="Pole.014_link_virtual_y_link"><inertial><mass value="0.001" /><inertia ixx="0.001" ixy="0" ixz="0" iyy="0.001" iyz="0" izz="0.001" /><origin rpy="0 0 0" xyz="0 0 0" /></inertial></link><link name="Pole.014_link_virtual_x_link"><inertial><mass value="0.001" /><inertia ixx="0.001" ixy="0" ixz="0" iyy="0.001" iyz="0" izz="0.001" /><origin rpy="0 0 0" xyz="0 0 0" /></inertial></link><link name="Pole.014_link_virtual_roll_link"><inertial><mass value="0.001" /><inertia ixx="0.001" ixy="0" ixz="0" iyy="0.001" iyz="0" izz="0.001" /><origin rpy="0 0 0" xyz="0 0 0" /></inertial></link><link name="Pole.014_link_virtual_pitch_link"><inertial><mass value="0.001" /><inertia ixx="0.001" ixy="0" ixz="0" iyy="0.001" iyz="0" izz="0.001" /><origin rpy="0 0 0" xyz="0 0 0" /></inertial></link><link name="Pole.014_link_virtual_yaw_link"><visual name="Pole.014">
      <material name="None" />
      <origin rpy="0.00000 0.00000 0.00000" xyz="-0.42837 0.57558 0.05000" />
      <geometry>
        <cylinder radius="0.01000" length="0.10000" />
      </geometry>
    </visual><collision name="Pole.014_collision">
      <origin rpy="0.00000 0.00000 0.00000" xyz="-0.42837 0.57558 0.05000" />
      <geometry>
        <cylinder radius="0.01000" length="0.10000" />
      </geometry>
    </collision><inertial>
      <inertia ixx="0.00858" ixy="0.00000" ixz="0.00000" iyy="0.00858" iyz="0.00000" izz="0.00050" />
      <origin rpy="0.00000 0.00000 0.00000" xyz="-0.42837 0.57558 0.05000" />
      <mass value="10.00000" />
    </inertial></link><joint name="Pole.014_link_z_joint" type="prismatic"><parent link="base_link" /><child link="Pole.014_link_virtual_z_link" /><origin rpy="0 0 0" xyz="0 0 0" /><axis xyz="0 0 1" /><limit lower="-10.0" upper="10.0" effort="1000.0" velocity="5.0" /></joint><joint name="Pole.014_link_y_joint" type="prismatic"><parent link="Pole.014_link_virtual_z_link" /><child link="Pole.014_link_virtual_y_link" /><origin rpy="0 0 0" xyz="0 0 0" /><axis xyz="0 1 0" /><limit lower="-10.0" upper="10.0" effort="1000.0" velocity="5.0" /></joint><joint name="Pole.014_link_x_joint" type="prismatic"><parent link="Pole.014_link_virtual_y_link" /><child link="Pole.014_link_virtual_x_link" /><origin rpy="0 0 0" xyz="0 0 0" /><axis xyz="1 0 0" /><limit lower="-10.0" upper="10.0" effort="1000.0" velocity="5.0" /></joint><joint name="Pole.014_link_roll_joint" type="revolute"><parent link="Pole.014_link_virtual_x_link" /><child link="Pole.014_link_virtual_roll_link" /><origin rpy="0 0 0" xyz="0 0 0" /><axis xyz="1 0 0" /><limit lower="-3.14159" upper="3.14159" effort="1000.0" velocity="5.0" /></joint><joint name="Pole.014_link_pitch_joint" type="revolute"><parent link="Pole.014_link_virtual_roll_link" /><child link="Pole.014_link_virtual_pitch_link" /><origin rpy="0 0 0" xyz="0 0 0" /><axis xyz="0 1 0" /><limit lower="-3.14159" upper="3.14159" effort="1000.0" velocity="5.0" /></joint><joint name="Pole.014_link_yaw_joint" type="revolute"><parent link="Pole.014_link_virtual_pitch_link" /><child link="Pole.014_link_virtual_yaw_link" /><origin rpy="0 0 0" xyz="0 0 0" /><axis xyz="0 0 1" /><limit lower="-3.14159" upper="3.14159" effort="1000.0" velocity="5.0" /></joint><link name="Pole.015_link_virtual_z_link"><inertial><mass value="0.001" /><inertia ixx="0.001" ixy="0" ixz="0" iyy="0.001" iyz="0" izz="0.001" /><origin rpy="0 0 0" xyz="0 0 0" /></inertial></link><link name="Pole.015_link_virtual_y_link"><inertial><mass value="0.001" /><inertia ixx="0.001" ixy="0" ixz="0" iyy="0.001" iyz="0" izz="0.001" /><origin rpy="0 0 0" xyz="0 0 0" /></inertial></link><link name="Pole.015_link_virtual_x_link"><inertial><mass value="0.001" /><inertia ixx="0.001" ixy="0" ixz="0" iyy="0.001" iyz="0" izz="0.001" /><origin rpy="0 0 0" xyz="0 0 0" /></inertial></link><link name="Pole.015_link_virtual_roll_link"><inertial><mass value="0.001" /><inertia ixx="0.001" ixy="0" ixz="0" iyy="0.001" iyz="0" izz="0.001" /><origin rpy="0 0 0" xyz="0 0 0" /></inertial></link><link name="Pole.015_link_virtual_pitch_link"><inertial><mass value="0.001" /><inertia ixx="0.001" ixy="0" ixz="0" iyy="0.001" iyz="0" izz="0.001" /><origin rpy="0 0 0" xyz="0 0 0" /></inertial></link><link name="Pole.015_link_virtual_yaw_link"><visual name="Pole.015">
      <material name="None" />
      <origin rpy="0.00000 0.00000 0.00000" xyz="-0.45837 0.57558 0.05000" />
      <geometry>
        <cylinder radius="0.01000" length="0.10000" />
      </geometry>
    </visual><collision name="Pole.015_collision">
      <origin rpy="0.00000 0.00000 0.00000" xyz="-0.45837 0.57558 0.05000" />
      <geometry>
        <cylinder radius="0.01000" length="0.10000" />
      </geometry>
    </collision><inertial>
      <inertia ixx="0.00858" ixy="-0.00000" ixz="0.00000" iyy="0.00858" iyz="0.00000" izz="0.00050" />
      <origin rpy="0.00000 0.00000 0.00000" xyz="-0.45837 0.57558 0.05000" />
      <mass value="10.00000" />
    </inertial></link><joint name="Pole.015_link_z_joint" type="prismatic"><parent link="base_link" /><child link="Pole.015_link_virtual_z_link" /><origin rpy="0 0 0" xyz="0 0 0" /><axis xyz="0 0 1" /><limit lower="-10.0" upper="10.0" effort="1000.0" velocity="5.0" /></joint><joint name="Pole.015_link_y_joint" type="prismatic"><parent link="Pole.015_link_virtual_z_link" /><child link="Pole.015_link_virtual_y_link" /><origin rpy="0 0 0" xyz="0 0 0" /><axis xyz="0 1 0" /><limit lower="-10.0" upper="10.0" effort="1000.0" velocity="5.0" /></joint><joint name="Pole.015_link_x_joint" type="prismatic"><parent link="Pole.015_link_virtual_y_link" /><child link="Pole.015_link_virtual_x_link" /><origin rpy="0 0 0" xyz="0 0 0" /><axis xyz="1 0 0" /><limit lower="-10.0" upper="10.0" effort="1000.0" velocity="5.0" /></joint><joint name="Pole.015_link_roll_joint" type="revolute"><parent link="Pole.015_link_virtual_x_link" /><child link="Pole.015_link_virtual_roll_link" /><origin rpy="0 0 0" xyz="0 0 0" /><axis xyz="1 0 0" /><limit lower="-3.14159" upper="3.14159" effort="1000.0" velocity="5.0" /></joint><joint name="Pole.015_link_pitch_joint" type="revolute"><parent link="Pole.015_link_virtual_roll_link" /><child link="Pole.015_link_virtual_pitch_link" /><origin rpy="0 0 0" xyz="0 0 0" /><axis xyz="0 1 0" /><limit lower="-3.14159" upper="3.14159" effort="1000.0" velocity="5.0" /></joint><joint name="Pole.015_link_yaw_joint" type="revolute"><parent link="Pole.015_link_virtual_pitch_link" /><child link="Pole.015_link_virtual_yaw_link" /><origin rpy="0 0 0" xyz="0 0 0" /><axis xyz="0 0 1" /><limit lower="-3.14159" upper="3.14159" effort="1000.0" velocity="5.0" /></joint><link name="Pole.016_link_virtual_z_link"><inertial><mass value="0.001" /><inertia ixx="0.001" ixy="0" ixz="0" iyy="0.001" iyz="0" izz="0.001" /><origin rpy="0 0 0" xyz="0 0 0" /></inertial></link><link name="Pole.016_link_virtual_y_link"><inertial><mass value="0.001" /><inertia ixx="0.001" ixy="0" ixz="0" iyy="0.001" iyz="0" izz="0.001" /><origin rpy="0 0 0" xyz="0 0 0" /></inertial></link><link name="Pole.016_link_virtual_x_link"><inertial><mass value="0.001" /><inertia ixx="0.001" ixy="0" ixz="0" iyy="0.001" iyz="0" izz="0.001" /><origin rpy="0 0 0" xyz="0 0 0" /></inertial></link><link name="Pole.016_link_virtual_roll_link"><inertial><mass value="0.001" /><inertia ixx="0.001" ixy="0" ixz="0" iyy="0.001" iyz="0" izz="0.001" /><origin rpy="0 0 0" xyz="0 0 0" /></inertial></link><link name="Pole.016_link_virtual_pitch_link"><inertial><mass value="0.001" /><inertia ixx="0.001" ixy="0" ixz="0" iyy="0.001" iyz="0" izz="0.001" /><origin rpy="0 0 0" xyz="0 0 0" /></inertial></link><link name="Pole.016_link_virtual_yaw_link"><visual name="Pole.016">
      <material name="None" />
      <origin rpy="0.00000 0.00000 0.00000" xyz="-0.48837 0.57558 0.05000" />
      <geometry>
        <cylinder radius="0.01000" length="0.10000" />
      </geometry>
    </visual><collision name="Pole.016_collision">
      <origin rpy="0.00000 0.00000 0.00000" xyz="-0.48837 0.57558 0.05000" />
      <geometry>
        <cylinder radius="0.01000" length="0.10000" />
      </geometry>
    </collision><inertial>
      <inertia ixx="0.00858" ixy="0.00000" ixz="0.00000" iyy="0.00858" iyz="0.00000" izz="0.00050" />
      <origin rpy="0.00000 0.00000 0.00000" xyz="-0.48837 0.57558 0.05000" />
      <mass value="10.00000" />
    </inertial></link><joint name="Pole.016_link_z_joint" type="prismatic"><parent link="base_link" /><child link="Pole.016_link_virtual_z_link" /><origin rpy="0 0 0" xyz="0 0 0" /><axis xyz="0 0 1" /><limit lower="-10.0" upper="10.0" effort="1000.0" velocity="5.0" /></joint><joint name="Pole.016_link_y_joint" type="prismatic"><parent link="Pole.016_link_virtual_z_link" /><child link="Pole.016_link_virtual_y_link" /><origin rpy="0 0 0" xyz="0 0 0" /><axis xyz="0 1 0" /><limit lower="-10.0" upper="10.0" effort="1000.0" velocity="5.0" /></joint><joint name="Pole.016_link_x_joint" type="prismatic"><parent link="Pole.016_link_virtual_y_link" /><child link="Pole.016_link_virtual_x_link" /><origin rpy="0 0 0" xyz="0 0 0" /><axis xyz="1 0 0" /><limit lower="-10.0" upper="10.0" effort="1000.0" velocity="5.0" /></joint><joint name="Pole.016_link_roll_joint" type="revolute"><parent link="Pole.016_link_virtual_x_link" /><child link="Pole.016_link_virtual_roll_link" /><origin rpy="0 0 0" xyz="0 0 0" /><axis xyz="1 0 0" /><limit lower="-3.14159" upper="3.14159" effort="1000.0" velocity="5.0" /></joint><joint name="Pole.016_link_pitch_joint" type="revolute"><parent link="Pole.016_link_virtual_roll_link" /><child link="Pole.016_link_virtual_pitch_link" /><origin rpy="0 0 0" xyz="0 0 0" /><axis xyz="0 1 0" /><limit lower="-3.14159" upper="3.14159" effort="1000.0" velocity="5.0" /></joint><joint name="Pole.016_link_yaw_joint" type="revolute"><parent link="Pole.016_link_virtual_pitch_link" /><child link="Pole.016_link_virtual_yaw_link" /><origin rpy="0 0 0" xyz="0 0 0" /><axis xyz="0 0 1" /><limit lower="-3.14159" upper="3.14159" effort="1000.0" velocity="5.0" /></joint><link name="Pole.017_link_virtual_z_link"><inertial><mass value="0.001" /><inertia ixx="0.001" ixy="0" ixz="0" iyy="0.001" iyz="0" izz="0.001" /><origin rpy="0 0 0" xyz="0 0 0" /></inertial></link><link name="Pole.017_link_virtual_y_link"><inertial><mass value="0.001" /><inertia ixx="0.001" ixy="0" ixz="0" iyy="0.001" iyz="0" izz="0.001" /><origin rpy="0 0 0" xyz="0 0 0" /></inertial></link><link name="Pole.017_link_virtual_x_link"><inertial><mass value="0.001" /><inertia ixx="0.001" ixy="0" ixz="0" iyy="0.001" iyz="0" izz="0.001" /><origin rpy="0 0 0" xyz="0 0 0" /></inertial></link><link name="Pole.017_link_virtual_roll_link"><inertial><mass value="0.001" /><inertia ixx="0.001" ixy="0" ixz="0" iyy="0.001" iyz="0" izz="0.001" /><origin rpy="0 0 0" xyz="0 0 0" /></inertial></link><link name="Pole.017_link_virtual_pitch_link"><inertial><mass value="0.001" /><inertia ixx="0.001" ixy="0" ixz="0" iyy="0.001" iyz="0" izz="0.001" /><origin rpy="0 0 0" xyz="0 0 0" /></inertial></link><link name="Pole.017_link_virtual_yaw_link"><visual name="Pole.017">
      <material name="None" />
      <origin rpy="0.00000 0.00000 0.00000" xyz="-0.51837 0.57558 0.05000" />
      <geometry>
        <cylinder radius="0.01000" length="0.10000" />
      </geometry>
    </visual><collision name="Pole.017_collision">
      <origin rpy="0.00000 0.00000 0.00000" xyz="-0.51837 0.57558 0.05000" />
      <geometry>
        <cylinder radius="0.01000" length="0.10000" />
      </geometry>
    </collision><inertial>
      <inertia ixx="0.00858" ixy="0.00000" ixz="0.00000" iyy="0.00858" iyz="0.00000" izz="0.00050" />
      <origin rpy="0.00000 0.00000 0.00000" xyz="-0.51837 0.57558 0.05000" />
      <mass value="10.00000" />
    </inertial></link><joint name="Pole.017_link_z_joint" type="prismatic"><parent link="base_link" /><child link="Pole.017_link_virtual_z_link" /><origin rpy="0 0 0" xyz="0 0 0" /><axis xyz="0 0 1" /><limit lower="-10.0" upper="10.0" effort="1000.0" velocity="5.0" /></joint><joint name="Pole.017_link_y_joint" type="prismatic"><parent link="Pole.017_link_virtual_z_link" /><child link="Pole.017_link_virtual_y_link" /><origin rpy="0 0 0" xyz="0 0 0" /><axis xyz="0 1 0" /><limit lower="-10.0" upper="10.0" effort="1000.0" velocity="5.0" /></joint><joint name="Pole.017_link_x_joint" type="prismatic"><parent link="Pole.017_link_virtual_y_link" /><child link="Pole.017_link_virtual_x_link" /><origin rpy="0 0 0" xyz="0 0 0" /><axis xyz="1 0 0" /><limit lower="-10.0" upper="10.0" effort="1000.0" velocity="5.0" /></joint><joint name="Pole.017_link_roll_joint" type="revolute"><parent link="Pole.017_link_virtual_x_link" /><child link="Pole.017_link_virtual_roll_link" /><origin rpy="0 0 0" xyz="0 0 0" /><axis xyz="1 0 0" /><limit lower="-3.14159" upper="3.14159" effort="1000.0" velocity="5.0" /></joint><joint name="Pole.017_link_pitch_joint" type="revolute"><parent link="Pole.017_link_virtual_roll_link" /><child link="Pole.017_link_virtual_pitch_link" /><origin rpy="0 0 0" xyz="0 0 0" /><axis xyz="0 1 0" /><limit lower="-3.14159" upper="3.14159" effort="1000.0" velocity="5.0" /></joint><joint name="Pole.017_link_yaw_joint" type="revolute"><parent link="Pole.017_link_virtual_pitch_link" /><child link="Pole.017_link_virtual_yaw_link" /><origin rpy="0 0 0" xyz="0 0 0" /><axis xyz="0 0 1" /><limit lower="-3.14159" upper="3.14159" effort="1000.0" velocity="5.0" /></joint></robot>
